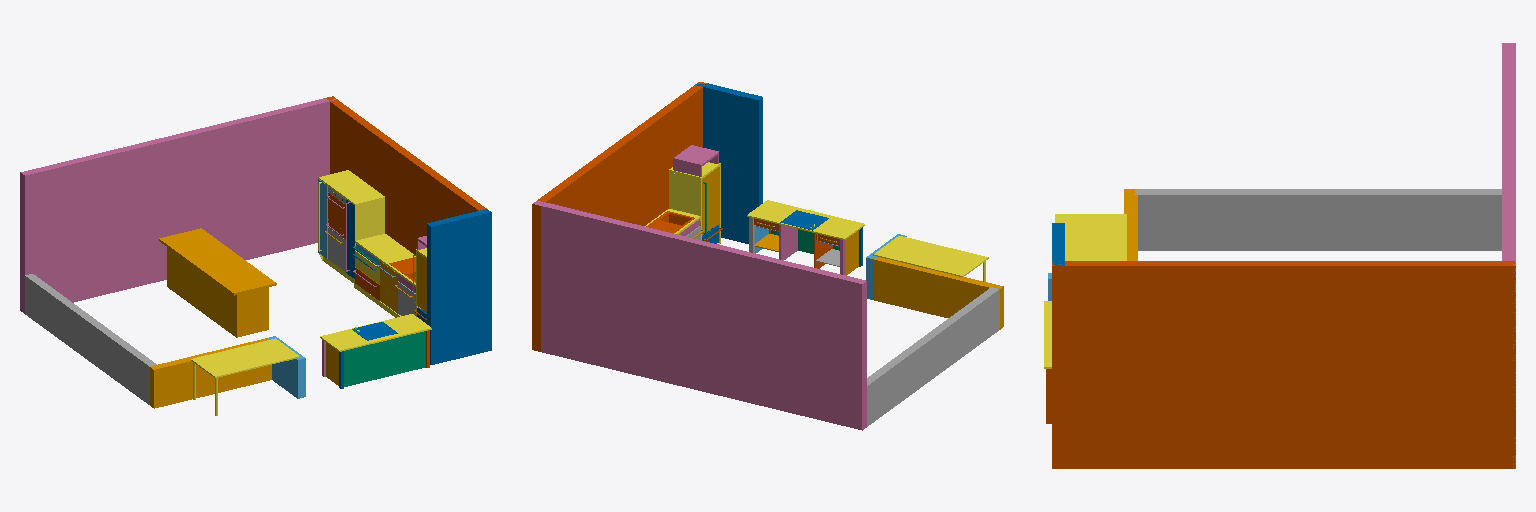
--- What the picture shows (computed from the rendered views, not written in the file) ---
Views: 3 orthographic renders of the robot side by side, from view 1: azimuth 30°, elevation 25°; view 2: azimuth 150°, elevation 25°; view 3: azimuth 270°, elevation 25°.
Robot: iai_oven_area — 164 links, 163 joints (11 revolute, 18 prismatic, 134 fixed); root link world; default pose: every joint at zero.
Links seen in each view (by area): view 1: kitchen_wall_3, kitchen_wall_2, kitchen_wall_1, kitchen_island, kitchen_wall_4, kitchen_wall_5, iai_popcorn_table_front_panel, oven_area_area, table_area_main, iai_popcorn_table_surface, sink_area, kitchen_wall_6 (+5 smaller); view 2: kitchen_wall_3, kitchen_wall_2, kitchen_wall_1, kitchen_wall_4, kitchen_wall_5, table_area_main, iai_popcorn_table_surface, fridge_area, iai_fridge_main, iai_fridge_door, sink_area_sink, iai_popcorn_table_right_wall (+1 smaller); view 3: kitchen_wall_2, kitchen_wall_4, kitchen_wall_3, table_area_main, kitchen_wall_5, kitchen_wall_1, iai_popcorn_table_surface.
Boxes of the visible links, bbox=[...] form: kitchen_wall_3: bbox=[20, 98, 337, 313]; kitchen_wall_2: bbox=[326, 96, 486, 254]; kitchen_wall_1: bbox=[427, 209, 491, 364]; kitchen_island: bbox=[159, 228, 276, 337]; kitchen_wall_4: bbox=[25, 274, 156, 404]; kitchen_wall_5: bbox=[150, 338, 271, 408]; iai_popcorn_table_front_panel: bbox=[344, 331, 425, 386]; oven_area_area: bbox=[318, 170, 384, 282]; table_area_main: bbox=[191, 338, 299, 415]; iai_popcorn_table_surface: bbox=[320, 314, 431, 351]; sink_area: bbox=[354, 234, 420, 317]; kitchen_wall_6: bbox=[268, 336, 305, 398]; kitchen_wall_3: bbox=[533, 200, 866, 430]; kitchen_wall_2: bbox=[532, 82, 707, 351]; kitchen_wall_1: bbox=[696, 83, 762, 243]; kitchen_wall_4: bbox=[867, 287, 999, 426]; kitchen_wall_5: bbox=[872, 257, 1003, 329]; table_area_main: bbox=[873, 236, 988, 281]; iai_popcorn_table_surface: bbox=[747, 200, 864, 239]; fridge_area: bbox=[669, 162, 720, 244]; iai_fridge_main: bbox=[673, 145, 718, 176]; iai_fridge_door: bbox=[702, 167, 719, 235]; sink_area_sink: bbox=[646, 211, 694, 233]; iai_popcorn_table_right_wall: bbox=[779, 225, 797, 259]; kitchen_wall_2: bbox=[1052, 261, 1515, 468]; kitchen_wall_4: bbox=[1135, 189, 1501, 250]; kitchen_wall_3: bbox=[1502, 43, 1515, 468]; table_area_main: bbox=[1055, 214, 1126, 260]; kitchen_wall_5: bbox=[1124, 189, 1137, 260]; kitchen_wall_1: bbox=[1052, 223, 1064, 265]; iai_popcorn_table_surface: bbox=[1044, 301, 1051, 368].
Size in the robot's own frame: 5.9 by 5.26 by 2.5 metres.
Meshes: 28 distinct files referenced, 57 mesh visuals loaded (1 binary STL, 27 OBJ).

robot.urdf — iai_oven_area:
<?xml version="1.0" ?>
<!-- =================================================================================== -->
<!-- |    This document was autogenerated by xacro from iai_kitchen_popcorn_python.urdf.xacro | -->
<!-- |    EDITING THIS FILE BY HAND IS NOT RECOMMENDED                                 | -->
<!-- =================================================================================== -->
<robot name="iai_oven_area">
  <!--- FIXME THIS should NOT be here -->
  <!--
      <link name="map">
      
      <sphere_inertia radius="0" mass="0"/>
      </link>
      <iai_drawer_60_14 name="drawer_1" parent="map">
      <origin rpy="0 0 0" xyz="0 0 1"/>
      </iai_drawer_60_14>
      
      <iai_drawer_80_14 name="drawer_2" parent="map">
      <origin rpy="0 0 0" xyz="0 0 2"/>
      </iai_drawer_80_14>
      
      <iai_drawer_60_29 name="drawer_3" parent="map">
      <origin rpy="0 0 0" xyz="0 0 3"/>
      </iai_drawer_60_29>
      
      <iai_drawer_80_29 name="drawer_4" parent="map">
      <origin rpy="0 0 0" xyz="0 0 4"/>
      </iai_drawer_80_29>
      
      <iai_drawer_100_29 name="drawer_5" parent="map">
      <origin rpy="0 0 0" xyz="0 0 5"/>
      </iai_drawer_100_29>
  -->
  <!--- FIXME THIS should NOT be here -->
  <!--
  <link name="oven_footprint">
    
    <sphere_inertia radius="0" mass="0"/>
  </link>
  <iai_oven name="iai_oven" parent="oven_footprint"/>
  -->
  <!--- FIXME THIS should NOT be here -->
  <!--
      <link name="map">
      
      <sphere_inertia radius="0" mass="0"/>
      </link>
      <iai_drawer_60_14 name="drawer_1" parent="map">
      <origin rpy="0 0 0" xyz="0 0 1"/>
      </iai_drawer_60_14>
      
      <iai_drawer_80_14 name="drawer_2" parent="map">
      <origin rpy="0 0 0" xyz="0 0 2"/>
      </iai_drawer_80_14>
      
      <iai_drawer_60_29 name="drawer_3" parent="map">
      <origin rpy="0 0 0" xyz="0 0 3"/>
      </iai_drawer_60_29>
      
      <iai_drawer_80_29 name="drawer_4" parent="map">
      <origin rpy="0 0 0" xyz="0 0 4"/>
      </iai_drawer_80_29>
      
      <iai_drawer_100_29 name="drawer_5" parent="map">
      <origin rpy="0 0 0" xyz="0 0 5"/>
      </iai_drawer_100_29>
  -->
  <!--- FIXME THIS should NOT be here -->
  <!--
      <link name="map">
      
      <sphere_inertia radius="0" mass="0"/>
      </link>
      <iai_drawer_60_14 name="drawer_1" parent="map">
      <origin rpy="0 0 0" xyz="0 0 1"/>
      </iai_drawer_60_14>
      
      <iai_drawer_80_14 name="drawer_2" parent="map">
      <origin rpy="0 0 0" xyz="0 0 2"/>
      </iai_drawer_80_14>
      
      <iai_drawer_60_29 name="drawer_3" parent="map">
      <origin rpy="0 0 0" xyz="0 0 3"/>
      </iai_drawer_60_29>
      
      <iai_drawer_80_29 name="drawer_4" parent="map">
      <origin rpy="0 0 0" xyz="0 0 4"/>
      </iai_drawer_80_29>
      
      <iai_drawer_100_29 name="drawer_5" parent="map">
      <origin rpy="0 0 0" xyz="0 0 5"/>
      </iai_drawer_100_29>
  -->
  <!--- FIXME THIS should NOT be here -->
  <!--
      <link name="map">
      
      <sphere_inertia radius="0" mass="0"/>
      </link>
      <iai_drawer_60_14 name="drawer_1" parent="map">
      <origin rpy="0 0 0" xyz="0 0 1"/>
      </iai_drawer_60_14>
      
      <iai_drawer_80_14 name="drawer_2" parent="map">
      <origin rpy="0 0 0" xyz="0 0 2"/>
      </iai_drawer_80_14>
      
      <iai_drawer_60_29 name="drawer_3" parent="map">
      <origin rpy="0 0 0" xyz="0 0 3"/>
      </iai_drawer_60_29>
      
      <iai_drawer_80_29 name="drawer_4" parent="map">
      <origin rpy="0 0 0" xyz="0 0 4"/>
      </iai_drawer_80_29>
      
      <iai_drawer_100_29 name="drawer_5" parent="map">
      <origin rpy="0 0 0" xyz="0 0 5"/>
      </iai_drawer_100_29>
  -->
  <link name="room_link">
    <sphere_inertia mass="0" radius="0"/>
  </link>
  <link name="world"/>
  <joint name="world_room_joint" type="fixed">
    <origin rpy="0 0 0" xyz="0.0 0.03 0 "/>
    <parent link="world"/>
    <child link="room_link"/>
  </joint>
  <link name="sink_area_footprint">
    <sphere_inertia mass="0" radius="0"/>
  </link>
  <link name="sink_area">
    <sphere_inertia mass="0" radius="0"/>
    <visual>
      <origin rpy="0 0 0" xyz="0 0 0"/>
      <geometry>
        <mesh filename="package://iai_kitchen/meshes/racks/SinkArea.obj"/>
      </geometry>
    </visual>
    <collision>
      <origin rpy="0 0 0" xyz="0 0 0"/>
      <geometry>
        <mesh filename="package://iai_kitchen/meshes/racks/SinkArea.obj"/>
      </geometry>
    </collision>
  </link>
  <joint name="sink_area_footprint_joint" type="fixed">
    <origin rpy="0 0 3.141592653589793" xyz="1.855 1.3 0"/>
    <child link="sink_area_footprint"/>
    <parent link="room_link"/>
  </joint>
  <joint name="sink_area_main_joint" type="fixed">
    <origin rpy="0 0 0" xyz="0.29 1.03 0.41"/>
    <parent link="sink_area_footprint"/>
    <child link="sink_area"/>
  </joint>
  <link name="sink_area_surface">
    <sphere_inertia mass="0" radius="0"/>
    <collision>
      <origin rpy="0 0 0" xyz="0 -0.225 0"/>
      <geometry>
        <box size="0.575 1.6 0.02"/>
      </geometry>
    </collision>
  </link>
  <joint name="sink_area_surface_joint" type="fixed">
    <origin rpy="0 0 0" xyz="0.0 0. 0.43"/>
    <parent link="sink_area"/>
    <child link="sink_area_surface"/>
  </joint>
  <link name="sink_area_sink">
    <sphere_inertia mass="0" radius="0"/>
    <visual>
      <origin rpy="0 0 0" xyz="0 0 0"/>
      <geometry>
        <mesh filename="package://iai_kitchen/meshes/misc/Sink.obj"/>
      </geometry>
    </visual>
    <collision>
      <origin rpy="0 0 0" xyz="0 0 0"/>
      <geometry>
        <mesh filename="package://iai_kitchen/meshes/misc/Sink.obj"/>
      </geometry>
    </collision>
  </link>
  <joint name="sink_area_sink_joint" type="fixed">
    <origin rpy="0 0 0" xyz="0.005 0.47 0.4414"/>
    <parent link="sink_area"/>
    <child link="sink_area_sink"/>
  </joint>
  <link name="sink_area_right_panel">
    <sphere_inertia mass="0" radius="0"/>
    <visual>
      <origin rpy="0 0 0" xyz="0 0 0"/>
      <geometry>
        <mesh filename="package://iai_kitchen/meshes/drawers/Panel_60.obj"/>
      </geometry>
    </visual>
    <collision>
      <origin rpy="0 0 0" xyz="0 0 0"/>
      <geometry>
        <mesh filename="package://iai_kitchen/meshes/drawers/Panel_60.obj"/>
      </geometry>
    </collision>
  </link>
  <joint name="sink_area_right_panel_joint" type="fixed">
    <origin rpy="0 0 0" xyz="0.28 0.7 0.355 "/>
    <parent link="sink_area"/>
    <child link="sink_area_right_panel"/>
  </joint>
  <link name="sink_area_trash_drawer_main">
    <sphere_inertia mass="0" radius="0"/>
    <visual>
      <origin rpy="0 0 0" xyz="0 0 0"/>
      <geometry>
        <mesh filename="package://iai_kitchen/meshes/drawers/Drawer_60_58.obj"/>
      </geometry>
    </visual>
    <collision>
      <origin rpy="0 0 0" xyz="0 0 0"/>
      <geometry>
        <mesh filename="package://iai_kitchen/meshes/drawers/Drawer_60_58.obj"/>
      </geometry>
    </collision>
  </link>
  <link name="sink_area_trash_drawer_handle">
    <sphere_inertia mass="0" radius="0"/>
    <visual>
      <origin rpy="0 0 0" xyz="0 0 0"/>
      <geometry>
        <mesh filename="package://iai_kitchen/meshes/handles/Handle60.obj"/>
      </geometry>
    </visual>
    <collision>
      <origin rpy="0 0 0" xyz="0 0 0"/>
      <geometry>
        <mesh filename="package://iai_kitchen/meshes/handles/Handle60.obj"/>
      </geometry>
    </collision>
  </link>
  <joint name="sink_area_trash_drawer_main_joint" type="prismatic">
    <origin rpy="0 0 0" xyz="0.01 0.7 -0.015 "/>
    <parent link="sink_area"/>
    <child link="sink_area_trash_drawer_main"/>
    <axis xyz="1. 0. 0.0"/>
    <limit effort="300" lower="0" upper="0.48" velocity="10"/>
    <!--
          <limit effort="300" lower="0" upper="0" velocity="10"/>
      -->
  </joint>
  <joint name="sink_area_trash_drawer_handle_joint" type="fixed">
    <origin rpy="0 0 0" xyz="0.37 0 0.25"/>
    <parent link="sink_area_trash_drawer_main"/>
    <child link="sink_area_trash_drawer_handle"/>
    <axis xyz="0 0 1"/>
    <limit effort="300" lower="0" upper="1.5707963267948966" velocity="10"/>
  </joint>
  <link name="sink_area_left_upper_drawer_main">
    <sphere_inertia mass="0" radius="0"/>
    <visual>
      <origin rpy="0 0 0" xyz="0 0 0"/>
      <geometry>
        <mesh filename="package://iai_kitchen/meshes/drawers/Drawer_80_14.obj"/>
      </geometry>
    </visual>
    <collision>
      <origin rpy="0 0 0" xyz="0 0 0"/>
      <geometry>
        <mesh filename="package://iai_kitchen/meshes/drawers/Drawer_80_14.obj"/>
      </geometry>
    </collision>
  </link>
  <link name="sink_area_left_upper_drawer_handle">
    <sphere_inertia mass="0" radius="0"/>
    <visual>
      <origin rpy="0 0 0" xyz="0 0 0"/>
      <geometry>
        <mesh filename="package://iai_kitchen/meshes/handles/Handle80.obj"/>
      </geometry>
    </visual>
    <collision>
      <origin rpy="0 0 0" xyz="0 0 0"/>
      <geometry>
        <mesh filename="package://iai_kitchen/meshes/handles/Handle80.obj"/>
      </geometry>
    </collision>
  </link>
  <joint name="sink_area_left_upper_drawer_main_joint" type="prismatic">
    <origin rpy="0 0 0" xyz="0.01 -0.6 0.345 "/>
    <parent link="sink_area"/>
    <child link="sink_area_left_upper_drawer_main"/>
    <axis xyz="1. 0. 0.0"/>
    <limit effort="300" lower="0" upper="0.48" velocity="10"/>
    <!--
          <limit effort="300" lower="0" upper="0" velocity="10"/>
      -->
  </joint>
  <joint name="sink_area_left_upper_drawer_handle_joint" type="fixed">
    <origin rpy="0 0 0" xyz="0.3525 0 0.0175"/>
    <parent link="sink_area_left_upper_drawer_main"/>
    <child link="sink_area_left_upper_drawer_handle"/>
    <axis xyz="0 0 1"/>
    <limit effort="300" lower="0" upper="1.5707963267948966" velocity="10"/>
  </joint>
  <link name="sink_area_left_middle_drawer_main">
    <sphere_inertia mass="0" radius="0"/>
    <visual>
      <origin rpy="0 0 0" xyz="0 0 0"/>
      <geometry>
        <mesh filename="package://iai_kitchen/meshes/drawers/Drawer_80_29.obj"/>
      </geometry>
    </visual>
    <collision>
      <origin rpy="0 0 0" xyz="0 0 0"/>
      <geometry>
        <mesh filename="package://iai_kitchen/meshes/drawers/Drawer_80_29.obj"/>
      </geometry>
    </collision>
  </link>
  <link name="sink_area_left_middle_drawer_handle">
    <sphere_inertia mass="0" radius="0"/>
    <visual>
      <origin rpy="0 0 0" xyz="0 0 0"/>
      <geometry>
        <mesh filename="package://iai_kitchen/meshes/handles/Handle80.obj"/>
      </geometry>
    </visual>
    <collision>
      <origin rpy="0 0 0" xyz="0 0 0"/>
      <geometry>
        <mesh filename="package://iai_kitchen/meshes/handles/Handle80.obj"/>
      </geometry>
    </collision>
  </link>
  <joint name="sink_area_left_middle_drawer_main_joint" type="prismatic">
    <origin rpy="0 0 0" xyz="0.01 -0.6 0.12 "/>
    <parent link="sink_area"/>
    <child link="sink_area_left_middle_drawer_main"/>
    <axis xyz="1. 0. 0.0"/>
    <limit effort="300" lower="0" upper="0.48" velocity="10"/>
    <!--
          <limit effort="300" lower="0" upper="0" velocity="10"/>
      -->
  </joint>
  <joint name="sink_area_left_middle_drawer_handle_joint" type="fixed">
    <origin rpy="0 0 0" xyz="0.3525 0 0.11"/>
    <parent link="sink_area_left_middle_drawer_main"/>
    <child link="sink_area_left_middle_drawer_handle"/>
    <axis xyz="0 0 1"/>
    <limit effort="300" lower="0" upper="1.5707963267948966" velocity="10"/>
  </joint>
  <link name="sink_area_left_bottom_drawer_main">
    <sphere_inertia mass="0" radius="0"/>
    <visual>
      <origin rpy="0 0 0" xyz="0 0 0"/>
      <geometry>
        <mesh filename="package://iai_kitchen/meshes/drawers/Drawer_80_29.obj"/>
      </geometry>
    </visual>
    <collision>
      <origin rpy="0 0 0" xyz="0 0 0"/>
      <geometry>
        <mesh filename="package://iai_kitchen/meshes/drawers/Drawer_80_29.obj"/>
      </geometry>
    </collision>
  </link>
  <link name="sink_area_left_bottom_drawer_handle">
    <sphere_inertia mass="0" radius="0"/>
    <visual>
      <origin rpy="0 0 0" xyz="0 0 0"/>
      <geometry>
        <mesh filename="package://iai_kitchen/meshes/handles/Handle80.obj"/>
      </geometry>
    </visual>
    <collision>
      <origin rpy="0 0 0" xyz="0 0 0"/>
      <geometry>
        <mesh filename="package://iai_kitchen/meshes/handles/Handle80.obj"/>
      </geometry>
    </collision>
  </link>
  <joint name="sink_area_left_bottom_drawer_main_joint" type="prismatic">
    <origin rpy="0 0 0" xyz="0.01 -0.6 -0.18"/>
    <parent link="sink_area"/>
    <child link="sink_area_left_bottom_drawer_main"/>
    <axis xyz="1. 0. 0.0"/>
    <limit effort="300" lower="0" upper="0.48" velocity="10"/>
    <!--
          <limit effort="300" lower="0" upper="0" velocity="10"/>
      -->
  </joint>
  <joint name="sink_area_left_bottom_drawer_handle_joint" type="fixed">
    <origin rpy="0 0 0" xyz="0.3525 0 0.11"/>
    <parent link="sink_area_left_bottom_drawer_main"/>
    <child link="sink_area_left_bottom_drawer_handle"/>
    <axis xyz="0 0 1"/>
    <limit effort="300" lower="0" upper="1.5707963267948966" velocity="10"/>
  </joint>
  <link name="sink_area_dish_washer_main">
    <sphere_inertia mass="0" radius="0"/>
    <visual>
      <origin rpy="0 0 0" xyz="0 0 0"/>
      <geometry>
        <mesh filename="package://iai_kitchen/meshes/misc/DishWasher.obj"/>
      </geometry>
    </visual>
    <collision>
      <origin rpy="0 0 0" xyz="0 0 0"/>
      <geometry>
        <mesh filename="package://iai_kitchen/meshes/misc/DishWasher.obj"/>
      </geometry>
    </collision>
  </link>
  <link name="sink_area_dish_washer_door">
    <sphere_inertia mass="0" radius="0"/>
    <visual>
      <origin rpy="1.5707963267948966 0 0" xyz="0 0.055 0"/>
      <geometry>
        <mesh filename="package://iai_kitchen/meshes/misc/DishWasherDoor.obj"/>
      </geometry>
    </visual>
    <collision>
      <origin rpy="1.5707963267948966 0 0" xyz="0 0.055 0"/>
      <geometry>
        <mesh filename="package://iai_kitchen/meshes/misc/DishWasherDoor.obj"/>
      </geometry>
    </collision>
  </link>
  <link name="sink_area_dish_washer_door_handle">
    <sphere_inertia mass="0" radius="0"/>
    <visual>
      <origin rpy="0 0 0" xyz="0 0 0"/>
      <geometry>
        <mesh filename="package://iai_kitchen/meshes/handles/Handle60.obj"/>
      </geometry>
    </visual>
    <collision>
      <origin rpy="0 0 0" xyz="0 0 0"/>
      <geometry>
        <mesh filename="package://iai_kitchen/meshes/handles/Handle60.obj"/>
      </geometry>
    </collision>
  </link>
  <!--
    <xacro:if value="simulated"/>
    -->
  <joint name="sink_area_dish_washer_main_joint" type="fixed">
    <origin rpy="0 0 0" xyz="0.01 0.1 0.06"/>
    <parent link="sink_area"/>
    <child link="sink_area_dish_washer_main"/>
  </joint>
  <!--
    <xacro:if value="${simulated}">
    <joint name="${name}_door_joint" type="revolute">
      <origin xyz="0.27 0. -0.325" rpy="${-0.5*pi} 0 0" />
      <parent link="${name}_main"/>
      <child link="${name}_door"/>
      <axis xyz="0 0 1"/>
       FIXME make closed position stable instead of forbidding opening...
      <limit lower="0" upper="0" effort="300" velocity="10"/>
    </joint>

    </xacro:if>
    -->
  <!--
    <xacro:unless value="${simulated}">
    -->
  <joint name="sink_area_dish_washer_door_joint" type="revolute">
    <origin rpy="-1.5707963267948966 0 0" xyz="0.27 0. -0.285"/>
    <parent link="sink_area_dish_washer_main"/>
    <child link="sink_area_dish_washer_door"/>
    <axis xyz="0 0 1"/>
    <!--
      <limit lower="0" upper="${0.5*pi}" effort="300" velocity="10"/>
      -->
    <limit effort="300" lower="0" upper="1.5707963267948966" velocity="10"/>
  </joint>
  <!--
    </xacro:unless>
  -->
  <joint name="sink_area_dish_washer_door_handle_joint" type="fixed">
    <origin rpy="-1.5707963267948966 0 0" xyz="0.085 -0.575 0.0"/>
    <parent link="sink_area_dish_washer_door"/>
    <child link="sink_area_dish_washer_door_handle"/>
  </joint>
  <joint name="sink_area_dish_washer_tray_main" type="prismatic">
    <origin xyz="-0.08 0 0.15"/>
    <parent link="sink_area_dish_washer_main"/>
    <child link="sink_area_dish_washer_tray_bottom"/>
    <axis xyz="1 0 0"/>
    <limit effort="300" lower="0" upper="0.48" velocity="10"/>
  </joint>
  <link name="sink_area_dish_washer_tray_bottom">
    <visual>
      <geometry>
        <box size="0.32 0.5 0.05"/>
      </geometry>
    </visual>
    <collision>
      <geometry>
        <box size="0.32 0.5 0.05"/>
      </geometry>
    </collision>
  </link>
  <link name="sink_area_dish_washer_tray_left_side">
    <visual>
      <geometry>
        <box size="0.32 0.005 0.17"/>
      </geometry>
    </visual>
    <collision>
      <geometry>
        <box size="0.32 0.005 0.17"/>
      </geometry>
    </collision>
  </link>
  <link name="sink_area_dish_washer_tray_right_side">
    <visual>
      <geometry>
        <box size="0.32 0.005 0.17"/>
      </geometry>
    </visual>
    <collision>
      <geometry>
        <box size="0.32 0.005 0.17"/>
      </geometry>
    </collision>
  </link>
  <link name="sink_area_dish_washer_tray_back_side">
    <visual>
      <geometry>
        <box size="0.005 0.5 0.17"/>
      </geometry>
    </visual>
    <collision>
      <geometry>
        <box size="0.005 0.5 0.17"/>
      </geometry>
    </collision>
  </link>
  <link name="sink_area_dish_washer_tray_front_side">
    <visual>
      <geometry>
        <box size="0.005 0.5 0.17"/>
      </geometry>
    </visual>
    <collision>
      <geometry>
        <box size="0.005 0.5 0.17"/>
      </geometry>
    </collision>
  </link>
  <joint name="sink_area_dish_washer_tray_bottom_left" type="fixed">
    <origin xyz="-0.0 -0.25 0.075"/>
    <child link="sink_area_dish_washer_tray_left_side"/>
    <parent link="sink_area_dish_washer_tray_bottom"/>
  </joint>
  <joint name="sink_area_dish_washer_tray_bottom_right" type="fixed">
    <origin xyz="-0.0 0.25 0.075"/>
    <child link="sink_area_dish_washer_tray_right_side"/>
    <parent link="sink_area_dish_washer_tray_bottom"/>
  </joint>
  <joint name="sink_area_dish_washer_tray_bottom_back" type="fixed">
    <origin xyz="-0.16 0 0.075"/>
    <child link="sink_area_dish_washer_tray_back_side"/>
    <parent link="sink_area_dish_washer_tray_bottom"/>
  </joint>
  <joint name="sink_area_dish_washer_tray_bottom_front" type="fixed">
    <origin xyz="0.16 0 0.075"/>
    <child link="sink_area_dish_washer_tray_front_side"/>
    <parent link="sink_area_dish_washer_tray_bottom"/>
  </joint>
  <joint name="sink_area_dish_washer_tray_handle_joint" type="fixed">
    <origin xyz="0.06 -0.1 -0.02"/>
    <child link="sink_area_dish_washer_tray_handle_front_side"/>
    <parent link="sink_area_dish_washer_tray_front_side"/>
  </joint>
  <link name="sink_area_dish_washer_tray_handle_left_side">
    <visual>
      <geometry>
        <box size="0.03 0.01 0.01"/>
      </geometry>
    </visual>
    <collision>
      <geometry>
        <box size="0.03 0.01 0.01"/>
      </geometry>
    </collision>
  </link>
  <link name="sink_area_dish_washer_tray_handle_right_side">
    <visual>
      <geometry>
        <box size="0.03 0.01 0.01"/>
      </geometry>
    </visual>
    <collision>
      <geometry>
        <box size="0.03 0.01 0.01"/>
      </geometry>
    </collision>
  </link>
  <link name="sink_area_dish_washer_tray_handle_front_side">
    <visual>
      <geometry>
        <box size="0.01 0.2 0.01"/>
      </geometry>
    </visual>
    <collision>
      <geometry>
        <box size="0.01 0.2 0.01"/>
      </geometry>
    </collision>
  </link>
  <joint name="sink_area_dish_washer_tray_handle_front_left_joint" type="fixed">
    <origin xyz="-0.01 -0.1 0"/>
    <child link="sink_area_dish_washer_tray_handle_left_side"/>
    <parent link="sink_area_dish_washer_tray_handle_front_side"/>
  </joint>
  <joint name="sink_area_dish_washer_tray_handle_front_right_joint" type="fixed">
    <origin xyz="-0.01 0.1 0"/>
    <child link="sink_area_dish_washer_tray_handle_right_side"/>
    <parent link="sink_area_dish_washer_tray_handle_front_side"/>
  </joint>
  <link name="oven_area_area_footprint">
    <sphere_inertia mass="0" radius="0"/>
  </link>
  <link name="oven_area_area">
    <sphere_inertia mass="0" radius="0"/>
    <visual>
      <origin rpy="0 0 0" xyz="0 0 0"/>
      <geometry>
        <mesh filename="package://iai_kitchen/meshes/racks/OvenArea.obj"/>
      </geometry>
    </visual>
    <collision>
      <origin rpy="0 0 0" xyz="0 0 0"/>
      <geometry>
        <mesh filename="package://iai_kitchen/meshes/racks/OvenArea.obj"/>
      </geometry>
    </collision>
  </link>
  <joint name="oven_area_footprint_joint" type="fixed">
    <origin rpy="0 0 3.141592653589793" xyz="1.855 2.47 0"/>
    <child link="oven_area_area_footprint"/>
    <parent link="room_link"/>
  </joint>
  <joint name="oven_area_main_joint" type="fixed">
    <origin rpy="0 0 0" xyz="0.29 0.6 0.755"/>
    <parent link="oven_area_area_footprint"/>
    <child link="oven_area_area"/>
  </joint>
  <!-- LINKS -->
  <link name="oven_area_oven_main">
    <sphere_inertia mass="0" radius="0"/>
    <visual>
      <origin rpy="0 0 0" xyz="0 0 0"/>
      <geometry>
        <mesh filename="package://iai_kitchen/meshes/oven/OvenMain.obj"/>
      </geometry>
    </visual>
    <collision>
      <origin rpy="0 0 0" xyz="0 0 0"/>
      <geometry>
        <mesh filename="package://iai_kitchen/meshes/oven/OvenMain.obj"/>
      </geometry>
    </collision>
  </link>
  <link name="oven_area_oven_door">
    <sphere_inertia mass="0" radius="0"/>
    <visual>
      <origin rpy="1.5707963267948966 0 0" xyz="0 0 0"/>
      <geometry>
        <mesh filename="package://iai_kitchen/meshes/oven/OvenDoor.obj"/>
      </geometry>
    </visual>
    <collision>
      <origin rpy="1.5707963267948966 0 0" xyz="0 0 0"/>
      <geometry>
        <mesh filename="package://iai_kitchen/meshes/oven/OvenDoor.obj"/>
      </geometry>
    </collision>
  </link>
  <link name="oven_area_oven_door_handle">
    <sphere_inertia mass="0" radius="0"/>
    <visual>
      <origin rpy="0 0 0" xyz="0 0 0"/>
      <geometry>
        <mesh filename="package://iai_kitchen/meshes/handles/Handle60.obj"/>
      </geometry>
    </visual>
    <collision>
      <origin rpy="0 0 0" xyz="0 0 0"/>
      <geometry>
        <mesh filename="package://iai_kitchen/meshes/handles/Handle60.obj"/>
      </geometry>
    </collision>
  </link>
  <link name="oven_area_oven_panel">
    <sphere_inertia mass="0" radius="0"/>
    <visual>
      <origin rpy="0 0 0" xyz="0 0 0"/>
      <geometry>
        <mesh filename="package://iai_kitchen/meshes/oven/OvenPanel.obj"/>
      </geometry>
    </visual>
    <collision>
      <origin rpy="0 0 0" xyz="0 0 0"/>
      <geometry>
        <mesh filename="package://iai_kitchen/meshes/oven/OvenPanel.obj"/>
      </geometry>
    </collision>
  </link>
  <!-- JOINTS -->
  <joint name="oven_area_oven_main_joint" type="fixed">
    <origin rpy="0 0 0" xyz="0.0 0.0 0.415"/>
    <parent link="oven_area_area"/>
    <child link="oven_area_oven_main"/>
  </joint>
  <joint name="oven_area_oven_door_joint" type="revolute">
    <origin rpy="-1.5707963267948966 0 0" xyz="0.2737 0. -0.2614"/>
    <parent link="oven_area_oven_main"/>
    <child link="oven_area_oven_door"/>
    <axis xyz="0 0 1"/>
    <!--
        <limit lower="0" upper="${0.5*pi}" effort="300" velocity="10"/>
        -->
    <!-- FIXME make the closed position stable -->
    <limit effort="0.03" lower="0" upper="1.5707963267948966" velocity="10"/>
    <dynamics damping="100.1"/>
  </joint>
  <gazebo reference="oven_area_oven_door_joint">
    <kp>1000000000</kp>
    <kd>1000000000</kd>
  </gazebo>
  <joint name="oven_area_oven_door_handle_joint" type="fixed">
    <origin rpy="-1.5707963267948966 0 0" xyz="0.05876 -0.39803 0."/>
    <parent link="oven_area_oven_door"/>
    <child link="oven_area_oven_door_handle"/>
    <axis xyz="0 0 1"/>
    <limit effort="300" lower="0" upper="1.5707963267948966" velocity="10"/>
  </joint>
  <joint name="oven_area_oven_panel_joint" type="fixed">
    <origin rpy="0 0 0" xyz="0.27 0 0.2449"/>
    <parent link="oven_area_oven_main"/>
    <child link="oven_area_oven_panel"/>
  </joint>
  <!--KNOBS -->
  <link name="oven_area_oven_knob_stove_2">
    <sphere_inertia mass="0" radius="0"/>
    <visual>
      <origin rpy="0 1.5707963267948966 0" xyz="0 0 0"/>
      <geometry>
        <mesh filename="package://iai_kitchen/meshes/oven/Knob.obj"/>
      </geometry>
    </visual>
    <collision>
      <origin rpy="0 1.5707963267948966 0" xyz="0 0 0"/>
      <geometry>
        <mesh filename="package://iai_kitchen/meshes/oven/Knob.obj"/>
      </geometry>
    </collision>
  </link>
  <joint name="oven_area_oven_knob_stove_2_joint" type="revolute">
    <origin rpy="0 -1.5707963267948966 0" xyz="0 -0.14 0"/>
    <parent link="oven_area_oven_panel"/>
    <child link="oven_area_oven_knob_stove_2"/>
    <axis xyz="0 0 1"/>
    <limit effort="300" lower="0" upper="3.141592653589793" velocity="10"/>
  </joint>
  <link name="oven_area_oven_knob_stove_1">
    <sphere_inertia mass="0" radius="0"/>
    <visual>
      <origin rpy="0 1.5707963267948966 0" xyz="0 0 0"/>
      <geometry>
        <mesh filename="package://iai_kitchen/meshes/oven/Knob.obj"/>
      </geometry>
    </visual>
    <collision>
      <origin rpy="0 1.5707963267948966 0" xyz="0 0 0"/>
      <geometry>
        <mesh filename="package://iai_kitchen/meshes/oven/Knob.obj"/>
      </geometry>
    </collision>
  </link>
  <joint name="oven_area_oven_knob_stove_1_joint" type="revolute">
    <origin rpy="0 -1.5707963267948966 0" xyz="0 -0.21 0"/>
    <parent link="oven_area_oven_panel"/>
    <child link="oven_area_oven_knob_stove_1"/>
    <axis xyz="0 0 1"/>
    <limit effort="300" lower="0" upper="3.141592653589793" velocity="10"/>
  </joint>
  <link name="oven_area_oven_knob_stove_3">
    <sphere_inertia mass="0" radius="0"/>
    <visual>
      <origin rpy="0 1.5707963267948966 0" xyz="0 0 0"/>
      <geometry>
        <mesh filename="package://iai_kitchen/meshes/oven/Knob.obj"/>
      </geometry>
    </visual>
    <collision>
      <origin rpy="0 1.5707963267948966 0" xyz="0 0 0"/>
      <geometry>
        <mesh filename="package://iai_kitchen/meshes/oven/Knob.obj"/>
      </geometry>
    </collision>
  </link>
  <joint name="oven_area_oven_knob_stove_3_joint" type="revolute">
    <origin rpy="0 -1.5707963267948966 0" xyz="0 -0.07 0"/>
    <parent link="oven_area_oven_panel"/>
    <child link="oven_area_oven_knob_stove_3"/>
    <axis xyz="0 0 1"/>
    <limit effort="300" lower="0" upper="3.141592653589793" velocity="10"/>
  </joint>
  <link name="oven_area_oven_knob_stove_4">
    <sphere_inertia mass="0" radius="0"/>
    <visual>
      <origin rpy="0 1.5707963267948966 0" xyz="0 0 0"/>
      <geometry>
        <mesh filename="package://iai_kitchen/meshes/oven/Knob.obj"/>
      </geometry>
    </visual>
    <collision>
      <origin rpy="0 1.5707963267948966 0" xyz="0 0 0"/>
      <geometry>
        <mesh filename="package://iai_kitchen/meshes/oven/Knob.obj"/>
      </geometry>
    </collision>
  </link>
  <joint name="oven_area_oven_knob_stove_4_joint" type="revolute">
    <origin rpy="0 -1.5707963267948966 0" xyz="0 -0.0 0"/>
    <parent link="oven_area_oven_panel"/>
    <child link="oven_area_oven_knob_stove_4"/>
    <axis xyz="0 0 1"/>
    <limit effort="300" lower="0" upper="3.141592653589793" velocity="10"/>
  </joint>
  <link name="oven_area_oven_knob_oven">
    <sphere_inertia mass="0" radius="0"/>
    <visual>
      <origin rpy="0 1.5707963267948966 0" xyz="0 0 0"/>
      <geometry>
        <mesh filename="package://iai_kitchen/meshes/oven/Knob.obj"/>
      </geometry>
    </visual>
    <collision>
      <origin rpy="0 1.5707963267948966 0" xyz="0 0 0"/>
      <geometry>
        <mesh filename="package://iai_kitchen/meshes/oven/Knob.obj"/>
      </geometry>
    </collision>
  </link>
  <joint name="oven_area_oven_knob_oven_joint" type="revolute">
    <origin rpy="0 -1.5707963267948966 0" xyz="0 0.16 0"/>
    <parent link="oven_area_oven_panel"/>
    <child link="oven_area_oven_knob_oven"/>
    <axis xyz="0 0 1"/>
    <limit effort="300" lower="0" upper="3.141592653589793" velocity="10"/>
  </joint>
  <link name="oven_area_area_middle_upper_drawer_main">
    <sphere_inertia mass="0" radius="0"/>
    <visual>
      <origin rpy="0 0 0" xyz="0 0 0"/>
      <geometry>
        <mesh filename="package://iai_kitchen/meshes/drawers/Drawer_60_14.obj"/>
      </geometry>
    </visual>
    <collision>
      <origin rpy="0 0 0" xyz="0 0 0"/>
      <geometry>
        <mesh filename="package://iai_kitchen/meshes/drawers/Drawer_60_14.obj"/>
      </geometry>
    </collision>
  </link>
  <link name="oven_area_area_middle_upper_drawer_handle">
    <sphere_inertia mass="0" radius="0"/>
    <visual>
      <origin rpy="0 0 0" xyz="0 0 0"/>
      <geometry>
        <mesh filename="package://iai_kitchen/meshes/handles/Handle60.obj"/>
      </geometry>
    </visual>
    <collision>
      <origin rpy="0 0 0" xyz="0 0 0"/>
      <geometry>
        <mesh filename="package://iai_kitchen/meshes/handles/Handle60.obj"/>
      </geometry>
    </collision>
  </link>
  <joint name="oven_area_area_middle_upper_drawer_main_joint" type="prismatic">
    <origin rpy="0 0 0" xyz="0.0 -0. 0.045 "/>
    <parent link="oven_area_area"/>
    <child link="oven_area_area_middle_upper_drawer_main"/>
    <axis xyz="1. 0. 0.0"/>
    <limit effort="300" lower="0" upper="0.48" velocity="10"/>
    <!--
          <limit effort="300" lower="0" upper="0" velocity="10"/>
      -->
  </joint>
  <joint name="oven_area_area_middle_upper_drawer_handle_joint" type="fixed">
    <origin rpy="0 0 0" xyz="0.3525 0 0.0175"/>
    <parent link="oven_area_area_middle_upper_drawer_main"/>
    <child link="oven_area_area_middle_upper_drawer_handle"/>
    <axis xyz="0 0 1"/>
    <limit effort="300" lower="0" upper="1.5707963267948966" velocity="10"/>
  </joint>
  <link name="oven_area_area_middle_lower_drawer_main">
    <sphere_inertia mass="0" radius="0"/>
    <visual>
      <origin rpy="0 0 0" xyz="0 0 0"/>
      <geometry>
        <mesh filename="package://iai_kitchen/meshes/drawers/Drawer_60_58.obj"/>
      </geometry>
    </visual>
    <collision>
      <origin rpy="0 0 0" xyz="0 0 0"/>
      <geometry>
        <mesh filename="package://iai_kitchen/meshes/drawers/Drawer_60_58.obj"/>
      </geometry>
    </collision>
  </link>
  <link name="oven_area_area_middle_lower_drawer_handle">
    <sphere_inertia mass="0" radius="0"/>
    <visual>
      <origin rpy="0 0 0" xyz="0 0 0"/>
      <geometry>
        <mesh filename="package://iai_kitchen/meshes/handles/Handle60.obj"/>
      </geometry>
    </visual>
    <collision>
      <origin rpy="0 0 0" xyz="0 0 0"/>
      <geometry>
        <mesh filename="package://iai_kitchen/meshes/handles/Handle60.obj"/>
      </geometry>
    </collision>
  </link>
  <joint name="oven_area_area_middle_lower_drawer_main_joint" type="prismatic">
    <origin rpy="0 0 0" xyz="0.0 -0. -0.315 "/>
    <parent link="oven_area_area"/>
    <child link="oven_area_area_middle_lower_drawer_main"/>
    <axis xyz="1. 0. 0.0"/>
    <limit effort="300" lower="0" upper="0.48" velocity="10"/>
    <!--
          <limit effort="300" lower="0" upper="0" velocity="10"/>
      -->
  </joint>
  <joint name="oven_area_area_middle_lower_drawer_handle_joint" type="fixed">
    <origin rpy="0 0 0" xyz="0.37 0 0.25"/>
    <parent link="oven_area_area_middle_lower_drawer_main"/>
    <child link="oven_area_area_middle_lower_drawer_handle"/>
    <axis xyz="0 0 1"/>
    <limit effort="300" lower="0" upper="1.5707963267948966" velocity="10"/>
  </joint>
  <joint name="oven_area_area_left_drawer_main_joint" type="prismatic">
    <origin rpy="0 0 0" xyz="0.29 -0.45 0.07 "/>
    <parent link="oven_area_area"/>
    <child link="oven_area_area_left_drawer_main"/>
    <axis xyz="1. 0. 0.0"/>
    <limit effort="300" lower="0" upper="0.48" velocity="10"/>
  </joint>
  <link name="oven_area_area_left_drawer_main">
    <sphere_inertia mass="0" radius="0"/>
    <visual>
      <origin rpy="0 0 0" xyz="0 0 0"/>
      <geometry>
        <box size="0.025 0.3 1.33"/>
      </geometry>
    </visual>
    <collision>
      <origin rpy="0 0 0" xyz="0 0 0"/>
      <geometry>
        <box size="0.025 0.3 1.33"/>
      </geometry>
    </collision>
  </link>
  <joint name="oven_area_area_left_drawer_main_padding_joint" type="fixed">
    <parent link="oven_area_area_left_drawer_main"/>
    <child link="oven_area_area_left_drawer_main_padding"/>
    <origin rpy="0 0 0" xyz="-0.03 0.0 0.0"/>
  </joint>
  <link name="oven_area_area_left_drawer_main_padding">
    <sphere_inertia mass="0" radius="0"/>
    <visual>
      <origin rpy="0 0 0" xyz="0 0 0"/>
      <geometry>
        <box size="0.06 0.3 1.33"/>
      </geometry>
    </visual>
    <collision>
      <origin rpy="0 0 0" xyz="0 0 0"/>
      <geometry>
        <box size="0.06 0.3 1.33"/>
      </geometry>
    </collision>
  </link>
  <joint name="oven_area_area_left_drawer_handle_joint" type="fixed">
    <origin rpy="-1.5707963267948966 0 0" xyz="0.08 0.0 0.05"/>
    <parent link="oven_area_area_left_drawer_main"/>
    <child link="oven_area_area_left_drawer_handle"/>
  </joint>
  <link name="oven_area_area_left_drawer_handle">
    <sphere_inertia mass="0" radius="0"/>
    <visual>
      <origin rpy="1.5707963267948966 0 0" xyz="0 0 0"/>
      <geometry>
        <mesh filename="package://iai_kitchen/meshes/handles/VHandle130.obj"/>
      </geometry>
    </visual>
    <collision>
      <origin rpy="1.5707963267948966 0 0" xyz="0 0 0"/>
      <geometry>
        <mesh filename="package://iai_kitchen/meshes/handles/VHandle130.obj"/>
      </geometry>
    </collision>
  </link>
  <link name="oven_area_area_left_drawer_board_0_link">
    <sphere_inertia mass="0" radius="0"/>
    <visual>
      <origin rpy="0 0 0" xyz="0 0 0"/>
      <geometry>
        <box size="0.49 0.25 0.036"/>
      </geometry>
    </visual>
    <collision>
      <origin rpy="0 0 0" xyz="0 0 0"/>
      <geometry>
        <box size="0.49 0.25 0.036"/>
      </geometry>
    </collision>
  </link>
  <joint name="oven_area_area_left_drawer_board_0_joint" type="fixed">
    <origin xyz="-0.25 0 -0.6"/>
    <parent link="oven_area_area_left_drawer_main"/>
    <child link="oven_area_area_left_drawer_board_0_link"/>
  </joint>
  <link name="oven_area_area_left_drawer_barrier_0_right_link">
    <sphere_inertia mass="0" radius="0"/>
    <visual>
      <origin rpy="0 0 0" xyz="0 0 0"/>
      <geometry>
        <box size="0.49 0.036 0.1"/>
      </geometry>
    </visual>
    <collision>
      <origin rpy="0 0 0" xyz="0 0 0"/>
      <geometry>
        <box size="0.49 0.036 0.1"/>
      </geometry>
    </collision>
  </link>
  <joint name="oven_area_area_left_drawer_barrier_0_right_joint" type="fixed">
    <origin xyz="-0.25 -0.107 -0.568"/>
    <parent link="oven_area_area_left_drawer_main"/>
    <child link="oven_area_area_left_drawer_barrier_0_right_link"/>
  </joint>
  <link name="oven_area_area_left_drawer_barrier_0_left_link">
    <sphere_inertia mass="0" radius="0"/>
    <visual>
      <origin rpy="0 0 0" xyz="0 0 0"/>
      <geometry>
        <box size="0.49 0.036 0.1"/>
      </geometry>
    </visual>
    <collision>
      <origin rpy="0 0 0" xyz="0 0 0"/>
      <geometry>
        <box size="0.49 0.036 0.1"/>
      </geometry>
    </collision>
  </link>
  <joint name="oven_area_area_left_drawer_barrier_0_left_joint" type="fixed">
    <origin xyz="-0.25 0.107 -0.568"/>
    <parent link="oven_area_area_left_drawer_main"/>
    <child link="oven_area_area_left_drawer_barrier_0_left_link"/>
  </joint>
  <link name="oven_area_area_left_drawer_barrier_0_back_link">
    <sphere_inertia mass="0" radius="0"/>
    <visual>
      <origin rpy="0 0 0" xyz="0 0 0"/>
      <geometry>
        <box size="0.036 0.25 0.1"/>
      </geometry>
    </visual>
    <collision>
      <origin rpy="0 0 0" xyz="0 0 0"/>
      <geometry>
        <box size="0.036 0.25 0.1"/>
      </geometry>
    </collision>
  </link>
  <joint name="oven_area_area_left_drawer_barrier_0_back_joint" type="fixed">
    <origin xyz="-0.477 0 -0.568"/>
    <parent link="oven_area_area_left_drawer_main"/>
    <child link="oven_area_area_left_drawer_barrier_0_back_link"/>
  </joint>
  <link name="oven_area_area_left_drawer_board_1_link">
    <sphere_inertia mass="0" radius="0"/>
    <visual>
      <origin rpy="0 0 0" xyz="0 0 0"/>
      <geometry>
        <box size="0.49 0.25 0.036"/>
      </geometry>
    </visual>
    <collision>
      <origin rpy="0 0 0" xyz="0 0 0"/>
      <geometry>
        <box size="0.49 0.25 0.036"/>
      </geometry>
    </collision>
  </link>
  <joint name="oven_area_area_left_drawer_board_1_joint" type="fixed">
    <origin xyz="-0.25 0 -0.28"/>
    <parent link="oven_area_area_left_drawer_main"/>
    <child link="oven_area_area_left_drawer_board_1_link"/>
  </joint>
  <link name="oven_area_area_left_drawer_barrier_1_right_link">
    <sphere_inertia mass="0" radius="0"/>
    <visual>
      <origin rpy="0 0 0" xyz="0 0 0"/>
      <geometry>
        <box size="0.49 0.036 0.1"/>
      </geometry>
    </visual>
    <collision>
      <origin rpy="0 0 0" xyz="0 0 0"/>
      <geometry>
        <box size="0.49 0.036 0.1"/>
      </geometry>
    </collision>
  </link>
  <joint name="oven_area_area_left_drawer_barrier_1_right_joint" type="fixed">
    <origin xyz="-0.25 -0.107 -0.24800000000000003"/>
    <parent link="oven_area_area_left_drawer_main"/>
    <child link="oven_area_area_left_drawer_barrier_1_right_link"/>
  </joint>
  <link name="oven_area_area_left_drawer_barrier_1_left_link">
    <sphere_inertia mass="0" radius="0"/>
    <visual>
      <origin rpy="0 0 0" xyz="0 0 0"/>
      <geometry>
        <box size="0.49 0.036 0.1"/>
      </geometry>
    </visual>
    <collision>
      <origin rpy="0 0 0" xyz="0 0 0"/>
      <geometry>
        <box size="0.49 0.036 0.1"/>
      </geometry>
    </collision>
  </link>
  <joint name="oven_area_area_left_drawer_barrier_1_left_joint" type="fixed">
    <origin xyz="-0.25 0.107 -0.24800000000000003"/>
    <parent link="oven_area_area_left_drawer_main"/>
    <child link="oven_area_area_left_drawer_barrier_1_left_link"/>
  </joint>
  <link name="oven_area_area_left_drawer_barrier_1_back_link">
    <sphere_inertia mass="0" radius="0"/>
    <visual>
      <origin rpy="0 0 0" xyz="0 0 0"/>
      <geometry>
        <box size="0.036 0.25 0.1"/>
      </geometry>
    </visual>
    <collision>
      <origin rpy="0 0 0" xyz="0 0 0"/>
      <geometry>
        <box size="0.036 0.25 0.1"/>
      </geometry>
    </collision>
  </link>
  <joint name="oven_area_area_left_drawer_barrier_1_back_joint" type="fixed">
    <origin xyz="-0.477 0 -0.24800000000000003"/>
    <parent link="oven_area_area_left_drawer_main"/>
    <child link="oven_area_area_left_drawer_barrier_1_back_link"/>
  </joint>
  <link name="oven_area_area_left_drawer_board_2_link">
    <sphere_inertia mass="0" radius="0"/>
    <visual>
      <origin rpy="0 0 0" xyz="0 0 0"/>
      <geometry>
        <box size="0.49 0.25 0.036"/>
      </geometry>
    </visual>
    <collision>
      <origin rpy="0 0 0" xyz="0 0 0"/>
      <geometry>
        <box size="0.49 0.25 0.036"/>
      </geometry>
    </collision>
  </link>
  <joint name="oven_area_area_left_drawer_board_2_joint" type="fixed">
    <origin xyz="-0.25 0 0.05"/>
    <parent link="oven_area_area_left_drawer_main"/>
    <child link="oven_area_area_left_drawer_board_2_link"/>
  </joint>
  <link name="oven_area_area_left_drawer_barrier_2_right_link">
    <sphere_inertia mass="0" radius="0"/>
    <visual>
      <origin rpy="0 0 0" xyz="0 0 0"/>
      <geometry>
        <box size="0.49 0.036 0.1"/>
      </geometry>
    </visual>
    <collision>
      <origin rpy="0 0 0" xyz="0 0 0"/>
      <geometry>
        <box size="0.49 0.036 0.1"/>
      </geometry>
    </collision>
  </link>
  <joint name="oven_area_area_left_drawer_barrier_2_right_joint" type="fixed">
    <origin xyz="-0.25 -0.107 0.082"/>
    <parent link="oven_area_area_left_drawer_main"/>
    <child link="oven_area_area_left_drawer_barrier_2_right_link"/>
  </joint>
  <link name="oven_area_area_left_drawer_barrier_2_left_link">
    <sphere_inertia mass="0" radius="0"/>
    <visual>
      <origin rpy="0 0 0" xyz="0 0 0"/>
      <geometry>
        <box size="0.49 0.036 0.1"/>
      </geometry>
    </visual>
    <collision>
      <origin rpy="0 0 0" xyz="0 0 0"/>
      <geometry>
        <box size="0.49 0.036 0.1"/>
      </geometry>
    </collision>
  </link>
  <joint name="oven_area_area_left_drawer_barrier_2_left_joint" type="fixed">
    <origin xyz="-0.25 0.107 0.082"/>
    <parent link="oven_area_area_left_drawer_main"/>
    <child link="oven_area_area_left_drawer_barrier_2_left_link"/>
  </joint>
  <link name="oven_area_area_left_drawer_barrier_2_back_link">
    <sphere_inertia mass="0" radius="0"/>
    <visual>
      <origin rpy="0 0 0" xyz="0 0 0"/>
      <geometry>
        <box size="0.036 0.25 0.1"/>
      </geometry>
    </visual>
    <collision>
      <origin rpy="0 0 0" xyz="0 0 0"/>
      <geometry>
        <box size="0.036 0.25 0.1"/>
      </geometry>
    </collision>
  </link>
  <joint name="oven_area_area_left_drawer_barrier_2_back_joint" type="fixed">
    <origin xyz="-0.477 0 0.082"/>
    <parent link="oven_area_area_left_drawer_main"/>
    <child link="oven_area_area_left_drawer_barrier_2_back_link"/>
  </joint>
  <link name="oven_area_area_left_drawer_board_3_link">
    <sphere_inertia mass="0" radius="0"/>
    <visual>
      <origin rpy="0 0 0" xyz="0 0 0"/>
      <geometry>
        <box size="0.49 0.25 0.036"/>
      </geometry>
    </visual>
    <collision>
      <origin rpy="0 0 0" xyz="0 0 0"/>
      <geometry>
        <box size="0.49 0.25 0.036"/>
      </geometry>
    </collision>
  </link>
  <joint name="oven_area_area_left_drawer_board_3_joint" type="fixed">
    <origin xyz="-0.25 0 0.38"/>
    <parent link="oven_area_area_left_drawer_main"/>
    <child link="oven_area_area_left_drawer_board_3_link"/>
  </joint>
  <link name="oven_area_area_left_drawer_barrier_3_right_link">
    <sphere_inertia mass="0" radius="0"/>
    <visual>
      <origin rpy="0 0 0" xyz="0 0 0"/>
      <geometry>
        <box size="0.49 0.036 0.1"/>
      </geometry>
    </visual>
    <collision>
      <origin rpy="0 0 0" xyz="0 0 0"/>
      <geometry>
        <box size="0.49 0.036 0.1"/>
      </geometry>
    </collision>
  </link>
  <joint name="oven_area_area_left_drawer_barrier_3_right_joint" type="fixed">
    <origin xyz="-0.25 -0.107 0.412"/>
    <parent link="oven_area_area_left_drawer_main"/>
    <child link="oven_area_area_left_drawer_barrier_3_right_link"/>
  </joint>
  <link name="oven_area_area_left_drawer_barrier_3_left_link">
    <sphere_inertia mass="0" radius="0"/>
    <visual>
      <origin rpy="0 0 0" xyz="0 0 0"/>
      <geometry>
        <box size="0.49 0.036 0.1"/>
      </geometry>
    </visual>
    <collision>
      <origin rpy="0 0 0" xyz="0 0 0"/>
      <geometry>
        <box size="0.49 0.036 0.1"/>
      </geometry>
    </collision>
  </link>
  <joint name="oven_area_area_left_drawer_barrier_3_left_joint" type="fixed">
    <origin xyz="-0.25 0.107 0.412"/>
    <parent link="oven_area_area_left_drawer_main"/>
    <child link="oven_area_area_left_drawer_barrier_3_left_link"/>
  </joint>
  <link name="oven_area_area_left_drawer_barrier_3_back_link">
    <sphere_inertia mass="0" radius="0"/>
    <visual>
      <origin rpy="0 0 0" xyz="0 0 0"/>
      <geometry>
        <box size="0.036 0.25 0.1"/>
      </geometry>
    </visual>
    <collision>
      <origin rpy="0 0 0" xyz="0 0 0"/>
      <geometry>
        <box size="0.036 0.25 0.1"/>
      </geometry>
    </collision>
  </link>
  <joint name="oven_area_area_left_drawer_barrier_3_back_joint" type="fixed">
    <origin xyz="-0.477 0 0.412"/>
    <parent link="oven_area_area_left_drawer_main"/>
    <child link="oven_area_area_left_drawer_barrier_3_back_link"/>
  </joint>
  <joint name="oven_area_area_right_drawer_main_joint" type="prismatic">
    <origin rpy="0 0 0" xyz="0.29 0.45 0.07"/>
    <parent link="oven_area_area"/>
    <child link="oven_area_area_right_drawer_main"/>
    <axis xyz="1. 0. 0.0"/>
    <limit effort="300" lower="0" upper="0.48" velocity="10"/>
  </joint>
  <link name="oven_area_area_right_drawer_main">
    <sphere_inertia mass="0" radius="0"/>
    <visual>
      <origin rpy="0 0 0" xyz="0 0 0"/>
      <geometry>
        <box size="0.025 0.3 1.33"/>
      </geometry>
    </visual>
    <collision>
      <origin rpy="0 0 0" xyz="0 0 0"/>
      <geometry>
        <box size="0.025 0.3 1.33"/>
      </geometry>
    </collision>
  </link>
  <joint name="oven_area_area_right_drawer_main_padding_joint" type="fixed">
    <parent link="oven_area_area_right_drawer_main"/>
    <child link="oven_area_area_right_drawer_main_padding"/>
    <origin rpy="0 0 0" xyz="-0.03 0.0 0.0"/>
  </joint>
  <link name="oven_area_area_right_drawer_main_padding">
    <sphere_inertia mass="0" radius="0"/>
    <visual>
      <origin rpy="0 0 0" xyz="0 0 0"/>
      <geometry>
        <box size="0.06 0.3 1.33"/>
      </geometry>
    </visual>
    <collision>
      <origin rpy="0 0 0" xyz="0 0 0"/>
      <geometry>
        <box size="0.06 0.3 1.33"/>
      </geometry>
    </collision>
  </link>
  <joint name="oven_area_area_right_drawer_handle_joint" type="fixed">
    <origin rpy="-1.5707963267948966 0 0" xyz="0.08 0.0 0.05"/>
    <parent link="oven_area_area_right_drawer_main"/>
    <child link="oven_area_area_right_drawer_handle"/>
  </joint>
  <link name="oven_area_area_right_drawer_handle">
    <sphere_inertia mass="0" radius="0"/>
    <visual>
      <origin rpy="1.5707963267948966 0 0" xyz="0 0 0"/>
      <geometry>
        <mesh filename="package://iai_kitchen/meshes/handles/VHandle130.obj"/>
      </geometry>
    </visual>
    <collision>
      <origin rpy="1.5707963267948966 0 0" xyz="0 0 0"/>
      <geometry>
        <mesh filename="package://iai_kitchen/meshes/handles/VHandle130.obj"/>
      </geometry>
    </collision>
  </link>
  <link name="oven_area_area_right_drawer_board_0_link">
    <sphere_inertia mass="0" radius="0"/>
    <visual>
      <origin rpy="0 0 0" xyz="0 0 0"/>
      <geometry>
        <box size="0.49 0.25 0.036"/>
      </geometry>
    </visual>
    <collision>
      <origin rpy="0 0 0" xyz="0 0 0"/>
      <geometry>
        <box size="0.49 0.25 0.036"/>
      </geometry>
    </collision>
  </link>
  <joint name="oven_area_area_right_drawer_board_0_joint" type="fixed">
    <origin xyz="-0.25 0 -0.6"/>
    <parent link="oven_area_area_right_drawer_main"/>
    <child link="oven_area_area_right_drawer_board_0_link"/>
  </joint>
  <link name="oven_area_area_right_drawer_barrier_0_right_link">
    <sphere_inertia mass="0" radius="0"/>
    <visual>
      <origin rpy="0 0 0" xyz="0 0 0"/>
      <geometry>
        <box size="0.49 0.036 0.1"/>
      </geometry>
    </visual>
    <collision>
      <origin rpy="0 0 0" xyz="0 0 0"/>
      <geometry>
        <box size="0.49 0.036 0.1"/>
      </geometry>
    </collision>
  </link>
  <joint name="oven_area_area_right_drawer_barrier_0_right_joint" type="fixed">
    <origin xyz="-0.25 -0.107 -0.568"/>
    <parent link="oven_area_area_right_drawer_main"/>
    <child link="oven_area_area_right_drawer_barrier_0_right_link"/>
  </joint>
  <link name="oven_area_area_right_drawer_barrier_0_left_link">
    <sphere_inertia mass="0" radius="0"/>
    <visual>
      <origin rpy="0 0 0" xyz="0 0 0"/>
      <geometry>
        <box size="0.49 0.036 0.1"/>
      </geometry>
    </visual>
    <collision>
      <origin rpy="0 0 0" xyz="0 0 0"/>
      <geometry>
        <box size="0.49 0.036 0.1"/>
      </geometry>
    </collision>
  </link>
  <joint name="oven_area_area_right_drawer_barrier_0_left_joint" type="fixed">
    <origin xyz="-0.25 0.107 -0.568"/>
    <parent link="oven_area_area_right_drawer_main"/>
    <child link="oven_area_area_right_drawer_barrier_0_left_link"/>
  </joint>
  <link name="oven_area_area_right_drawer_barrier_0_back_link">
    <sphere_inertia mass="0" radius="0"/>
    <visual>
      <origin rpy="0 0 0" xyz="0 0 0"/>
      <geometry>
        <box size="0.036 0.25 0.1"/>
      </geometry>
    </visual>
    <collision>
      <origin rpy="0 0 0" xyz="0 0 0"/>
      <geometry>
        <box size="0.036 0.25 0.1"/>
      </geometry>
    </collision>
  </link>
  <joint name="oven_area_area_right_drawer_barrier_0_back_joint" type="fixed">
    <origin xyz="-0.477 0 -0.568"/>
    <parent link="oven_area_area_right_drawer_main"/>
    <child link="oven_area_area_right_drawer_barrier_0_back_link"/>
  </joint>
  <link name="oven_area_area_right_drawer_board_1_link">
    <sphere_inertia mass="0" radius="0"/>
    <visual>
      <origin rpy="0 0 0" xyz="0 0 0"/>
      <geometry>
        <box size="0.49 0.25 0.036"/>
      </geometry>
    </visual>
    <collision>
      <origin rpy="0 0 0" xyz="0 0 0"/>
      <geometry>
        <box size="0.49 0.25 0.036"/>
      </geometry>
    </collision>
  </link>
  <joint name="oven_area_area_right_drawer_board_1_joint" type="fixed">
    <origin xyz="-0.25 0 -0.28"/>
    <parent link="oven_area_area_right_drawer_main"/>
    <child link="oven_area_area_right_drawer_board_1_link"/>
  </joint>
  <link name="oven_area_area_right_drawer_barrier_1_right_link">
    <sphere_inertia mass="0" radius="0"/>
    <visual>
      <origin rpy="0 0 0" xyz="0 0 0"/>
      <geometry>
        <box size="0.49 0.036 0.1"/>
      </geometry>
    </visual>
    <collision>
      <origin rpy="0 0 0" xyz="0 0 0"/>
      <geometry>
        <box size="0.49 0.036 0.1"/>
      </geometry>
    </collision>
  </link>
  <joint name="oven_area_area_right_drawer_barrier_1_right_joint" type="fixed">
    <origin xyz="-0.25 -0.107 -0.24800000000000003"/>
    <parent link="oven_area_area_right_drawer_main"/>
    <child link="oven_area_area_right_drawer_barrier_1_right_link"/>
  </joint>
  <link name="oven_area_area_right_drawer_barrier_1_left_link">
    <sphere_inertia mass="0" radius="0"/>
    <visual>
      <origin rpy="0 0 0" xyz="0 0 0"/>
      <geometry>
        <box size="0.49 0.036 0.1"/>
      </geometry>
    </visual>
    <collision>
      <origin rpy="0 0 0" xyz="0 0 0"/>
      <geometry>
        <box size="0.49 0.036 0.1"/>
      </geometry>
    </collision>
  </link>
  <joint name="oven_area_area_right_drawer_barrier_1_left_joint" type="fixed">
    <origin xyz="-0.25 0.107 -0.24800000000000003"/>
    <parent link="oven_area_area_right_drawer_main"/>
    <child link="oven_area_area_right_drawer_barrier_1_left_link"/>
  </joint>
  <link name="oven_area_area_right_drawer_barrier_1_back_link">
    <sphere_inertia mass="0" radius="0"/>
    <visual>
      <origin rpy="0 0 0" xyz="0 0 0"/>
      <geometry>
        <box size="0.036 0.25 0.1"/>
      </geometry>
    </visual>
    <collision>
      <origin rpy="0 0 0" xyz="0 0 0"/>
      <geometry>
        <box size="0.036 0.25 0.1"/>
      </geometry>
    </collision>
  </link>
  <joint name="oven_area_area_right_drawer_barrier_1_back_joint" type="fixed">
    <origin xyz="-0.477 0 -0.24800000000000003"/>
    <parent link="oven_area_area_right_drawer_main"/>
    <child link="oven_area_area_right_drawer_barrier_1_back_link"/>
  </joint>
  <link name="oven_area_area_right_drawer_board_2_link">
    <sphere_inertia mass="0" radius="0"/>
    <visual>
      <origin rpy="0 0 0" xyz="0 0 0"/>
      <geometry>
        <box size="0.49 0.25 0.036"/>
      </geometry>
    </visual>
    <collision>
      <origin rpy="0 0 0" xyz="0 0 0"/>
      <geometry>
        <box size="0.49 0.25 0.036"/>
      </geometry>
    </collision>
  </link>
  <joint name="oven_area_area_right_drawer_board_2_joint" type="fixed">
    <origin xyz="-0.25 0 0.05"/>
    <parent link="oven_area_area_right_drawer_main"/>
    <child link="oven_area_area_right_drawer_board_2_link"/>
  </joint>
  <link name="oven_area_area_right_drawer_barrier_2_right_link">
    <sphere_inertia mass="0" radius="0"/>
    <visual>
      <origin rpy="0 0 0" xyz="0 0 0"/>
      <geometry>
        <box size="0.49 0.036 0.1"/>
      </geometry>
    </visual>
    <collision>
      <origin rpy="0 0 0" xyz="0 0 0"/>
      <geometry>
        <box size="0.49 0.036 0.1"/>
      </geometry>
    </collision>
  </link>
  <joint name="oven_area_area_right_drawer_barrier_2_right_joint" type="fixed">
    <origin xyz="-0.25 -0.107 0.082"/>
    <parent link="oven_area_area_right_drawer_main"/>
    <child link="oven_area_area_right_drawer_barrier_2_right_link"/>
  </joint>
  <link name="oven_area_area_right_drawer_barrier_2_left_link">
    <sphere_inertia mass="0" radius="0"/>
    <visual>
      <origin rpy="0 0 0" xyz="0 0 0"/>
      <geometry>
        <box size="0.49 0.036 0.1"/>
      </geometry>
    </visual>
    <collision>
      <origin rpy="0 0 0" xyz="0 0 0"/>
      <geometry>
        <box size="0.49 0.036 0.1"/>
      </geometry>
    </collision>
  </link>
  <joint name="oven_area_area_right_drawer_barrier_2_left_joint" type="fixed">
    <origin xyz="-0.25 0.107 0.082"/>
    <parent link="oven_area_area_right_drawer_main"/>
    <child link="oven_area_area_right_drawer_barrier_2_left_link"/>
  </joint>
  <link name="oven_area_area_right_drawer_barrier_2_back_link">
    <sphere_inertia mass="0" radius="0"/>
    <visual>
      <origin rpy="0 0 0" xyz="0 0 0"/>
      <geometry>
        <box size="0.036 0.25 0.1"/>
      </geometry>
    </visual>
    <collision>
      <origin rpy="0 0 0" xyz="0 0 0"/>
      <geometry>
        <box size="0.036 0.25 0.1"/>
      </geometry>
    </collision>
  </link>
  <joint name="oven_area_area_right_drawer_barrier_2_back_joint" type="fixed">
    <origin xyz="-0.477 0 0.082"/>
    <parent link="oven_area_area_right_drawer_main"/>
    <child link="oven_area_area_right_drawer_barrier_2_back_link"/>
  </joint>
  <link name="oven_area_area_right_drawer_board_3_link">
    <sphere_inertia mass="0" radius="0"/>
    <visual>
      <origin rpy="0 0 0" xyz="0 0 0"/>
      <geometry>
        <box size="0.49 0.25 0.036"/>
      </geometry>
    </visual>
    <collision>
      <origin rpy="0 0 0" xyz="0 0 0"/>
      <geometry>
        <box size="0.49 0.25 0.036"/>
      </geometry>
    </collision>
  </link>
  <joint name="oven_area_area_right_drawer_board_3_joint" type="fixed">
    <origin xyz="-0.25 0 0.38"/>
    <parent link="oven_area_area_right_drawer_main"/>
    <child link="oven_area_area_right_drawer_board_3_link"/>
  </joint>
  <link name="oven_area_area_right_drawer_barrier_3_right_link">
    <sphere_inertia mass="0" radius="0"/>
    <visual>
      <origin rpy="0 0 0" xyz="0 0 0"/>
      <geometry>
        <box size="0.49 0.036 0.1"/>
      </geometry>
    </visual>
    <collision>
      <origin rpy="0 0 0" xyz="0 0 0"/>
      <geometry>
        <box size="0.49 0.036 0.1"/>
      </geometry>
    </collision>
  </link>
  <joint name="oven_area_area_right_drawer_barrier_3_right_joint" type="fixed">
    <origin xyz="-0.25 -0.107 0.412"/>
    <parent link="oven_area_area_right_drawer_main"/>
    <child link="oven_area_area_right_drawer_barrier_3_right_link"/>
  </joint>
  <link name="oven_area_area_right_drawer_barrier_3_left_link">
    <sphere_inertia mass="0" radius="0"/>
    <visual>
      <origin rpy="0 0 0" xyz="0 0 0"/>
      <geometry>
        <box size="0.49 0.036 0.1"/>
      </geometry>
    </visual>
    <collision>
      <origin rpy="0 0 0" xyz="0 0 0"/>
      <geometry>
        <box size="0.49 0.036 0.1"/>
      </geometry>
    </collision>
  </link>
  <joint name="oven_area_area_right_drawer_barrier_3_left_joint" type="fixed">
    <origin xyz="-0.25 0.107 0.412"/>
    <parent link="oven_area_area_right_drawer_main"/>
    <child link="oven_area_area_right_drawer_barrier_3_left_link"/>
  </joint>
  <link name="oven_area_area_right_drawer_barrier_3_back_link">
    <sphere_inertia mass="0" radius="0"/>
    <visual>
      <origin rpy="0 0 0" xyz="0 0 0"/>
      <geometry>
        <box size="0.036 0.25 0.1"/>
      </geometry>
    </visual>
    <collision>
      <origin rpy="0 0 0" xyz="0 0 0"/>
      <geometry>
        <box size="0.036 0.25 0.1"/>
      </geometry>
    </collision>
  </link>
  <joint name="oven_area_area_right_drawer_barrier_3_back_joint" type="fixed">
    <origin xyz="-0.477 0 0.412"/>
    <parent link="oven_area_area_right_drawer_main"/>
    <child link="oven_area_area_right_drawer_barrier_3_back_link"/>
  </joint>
  <link name="kitchen_island_footprint">
    <sphere_inertia mass="0" radius="0"/>
  </link>
  <link name="kitchen_island">
    <sphere_inertia mass="0" radius="0"/>
    <visual>
      <origin rpy="0 0 0" xyz="0 0 0"/>
      <geometry>
        <mesh filename="package://iai_kitchen/meshes/racks/IslandArea.obj"/>
      </geometry>
    </visual>
    <collision>
      <origin rpy="0 0 0" xyz="0 0 0"/>
      <geometry>
        <mesh filename="package://iai_kitchen/meshes/racks/IslandArea.obj"/>
      </geometry>
    </collision>
  </link>
  <joint name="kitchen_island_footprint_joint" type="fixed">
    <origin rpy="0 0 0" xyz="-1.365 0.59 0"/>
    <child link="kitchen_island_footprint"/>
    <parent link="room_link"/>
  </joint>
  <joint name="kitchen_island_joint" type="fixed">
    <origin rpy="0 0 0" xyz="0.2975 1.1292 0.421"/>
    <parent link="kitchen_island_footprint"/>
    <child link="kitchen_island"/>
  </joint>
  <link name="kitchen_island_surface">
    <sphere_inertia mass="0" radius="0"/>
    <collision>
      <origin rpy="0 0 0" xyz="0 0 0"/>
      <geometry>
        <box size="0.8 2.45 0.02"/>
      </geometry>
    </collision>
  </link>
  <joint name="kitchen_island_surface_joint" type="fixed">
    <origin rpy="0 0 0" xyz="0.0 0. 0.42"/>
    <parent link="kitchen_island"/>
    <child link="kitchen_island_surface"/>
  </joint>
  <link name="kitchen_island_stove">
    <sphere_inertia mass="0" radius="0"/>
    <visual>
      <origin rpy="0 0 0" xyz="0 0 0"/>
      <geometry>
        <mesh filename="package://iai_kitchen/meshes/misc/Stove.obj"/>
      </geometry>
    </visual>
    <collision>
      <origin rpy="0 0 0" xyz="0 0 0"/>
      <geometry>
        <mesh filename="package://iai_kitchen/meshes/misc/Stove.obj"/>
      </geometry>
    </collision>
  </link>
  <joint name="kitchen_island_stove_joint" type="fixed">
    <origin rpy="0 0 0" xyz="0.0 0.7658 0.4315"/>
    <parent link="kitchen_island"/>
    <child link="kitchen_island_stove"/>
  </joint>
  <link name="kitchen_island_left_panel">
    <sphere_inertia mass="0" radius="0"/>
    <visual>
      <origin rpy="0 0 0" xyz="0 0 0"/>
      <geometry>
        <mesh filename="package://iai_kitchen/meshes/drawers/Panel_60.obj"/>
      </geometry>
    </visual>
    <collision>
      <origin rpy="0 0 0" xyz="0 0 0"/>
      <geometry>
        <mesh filename="package://iai_kitchen/meshes/drawers/Panel_60.obj"/>
      </geometry>
    </collision>
  </link>
  <joint name="kitchen_island_left_panel_joint" type="fixed">
    <origin rpy="0 0 0" xyz="0.2725 -0.8 0.329 "/>
    <parent link="kitchen_island"/>
    <child link="kitchen_island_left_panel"/>
  </joint>
  <link name="kitchen_island_left_upper_drawer_main">
    <sphere_inertia mass="0" radius="0"/>
    <visual>
      <origin rpy="0 0 0" xyz="0 0 0"/>
      <geometry>
        <mesh filename="package://iai_kitchen/meshes/drawers/Drawer_60_29.obj"/>
      </geometry>
    </visual>
    <collision>
      <origin rpy="0 0 0" xyz="0 0 0"/>
      <geometry>
        <mesh filename="package://iai_kitchen/meshes/drawers/Drawer_60_29.obj"/>
      </geometry>
    </collision>
  </link>
  <link name="kitchen_island_left_upper_drawer_handle">
    <sphere_inertia mass="0" radius="0"/>
    <visual>
      <origin rpy="0 0 0" xyz="0 0 0"/>
      <geometry>
        <mesh filename="package://iai_kitchen/meshes/handles/Handle60.obj"/>
      </geometry>
    </visual>
    <collision>
      <origin rpy="0 0 0" xyz="0 0 0"/>
      <geometry>
        <mesh filename="package://iai_kitchen/meshes/handles/Handle60.obj"/>
      </geometry>
    </collision>
  </link>
  <joint name="kitchen_island_left_upper_drawer_main_joint" type="prismatic">
    <origin rpy="0 0 0" xyz="0.0025 -0.8 0.114 "/>
    <parent link="kitchen_island"/>
    <child link="kitchen_island_left_upper_drawer_main"/>
    <axis xyz="1. 0. 0.0"/>
    <limit effort="300" lower="0" upper="0.48" velocity="10"/>
    <!--
          <limit effort="300" lower="0" upper="0" velocity="10"/>
      -->
  </joint>
  <joint name="kitchen_island_left_upper_drawer_handle_joint" type="fixed">
    <origin rpy="0 0 0" xyz="0.3525 0 0.11"/>
    <parent link="kitchen_island_left_upper_drawer_main"/>
    <child link="kitchen_island_left_upper_drawer_handle"/>
    <axis xyz="0 0 1"/>
    <limit effort="300" lower="0" upper="1.5707963267948966" velocity="10"/>
  </joint>
  <link name="kitchen_island_left_lower_drawer_main">
    <sphere_inertia mass="0" radius="0"/>
    <visual>
      <origin rpy="0 0 0" xyz="0 0 0"/>
      <geometry>
        <mesh filename="package://iai_kitchen/meshes/drawers/Drawer_60_29.obj"/>
      </geometry>
    </visual>
    <collision>
      <origin rpy="0 0 0" xyz="0 0 0"/>
      <geometry>
        <mesh filename="package://iai_kitchen/meshes/drawers/Drawer_60_29.obj"/>
      </geometry>
    </collision>
  </link>
  <link name="kitchen_island_left_lower_drawer_handle">
    <sphere_inertia mass="0" radius="0"/>
    <visual>
      <origin rpy="0 0 0" xyz="0 0 0"/>
      <geometry>
        <mesh filename="package://iai_kitchen/meshes/handles/Handle60.obj"/>
      </geometry>
    </visual>
    <collision>
      <origin rpy="0 0 0" xyz="0 0 0"/>
      <geometry>
        <mesh filename="package://iai_kitchen/meshes/handles/Handle60.obj"/>
      </geometry>
    </collision>
  </link>
  <joint name="kitchen_island_left_lower_drawer_main_joint" type="prismatic">
    <origin rpy="0 0 0" xyz="0.0025 -0.8 -0.176 "/>
    <parent link="kitchen_island"/>
    <child link="kitchen_island_left_lower_drawer_main"/>
    <axis xyz="1. 0. 0.0"/>
    <limit effort="300" lower="0" upper="0.48" velocity="10"/>
    <!--
          <limit effort="300" lower="0" upper="0" velocity="10"/>
      -->
  </joint>
  <joint name="kitchen_island_left_lower_drawer_handle_joint" type="fixed">
    <origin rpy="0 0 0" xyz="0.3525 0 0.11"/>
    <parent link="kitchen_island_left_lower_drawer_main"/>
    <child link="kitchen_island_left_lower_drawer_handle"/>
    <axis xyz="0 0 1"/>
    <limit effort="300" lower="0" upper="1.5707963267948966" velocity="10"/>
  </joint>
  <link name="kitchen_island_middle_panel">
    <sphere_inertia mass="0" radius="0"/>
    <visual>
      <origin rpy="0 0 0" xyz="0 0 0"/>
      <geometry>
        <mesh filename="package://iai_kitchen/meshes/drawers/Panel_100.obj"/>
      </geometry>
    </visual>
    <collision>
      <origin rpy="0 0 0" xyz="0 0 0"/>
      <geometry>
        <mesh filename="package://iai_kitchen/meshes/drawers/Panel_100.obj"/>
      </geometry>
    </collision>
  </link>
  <joint name="kitchen_island_middle_panel_joint" type="fixed">
    <origin rpy="0 0 0" xyz="0.2725 0 0.329 "/>
    <parent link="kitchen_island"/>
    <child link="kitchen_island_middle_panel"/>
  </joint>
  <link name="kitchen_island_middle_upper_drawer_main">
    <sphere_inertia mass="0" radius="0"/>
    <visual>
      <origin rpy="0 0 0" xyz="0 0 0"/>
      <geometry>
        <mesh filename="package://iai_kitchen/meshes/drawers/Drawer_100_29.obj"/>
      </geometry>
    </visual>
    <collision>
      <origin rpy="0 0 0" xyz="0 0 0"/>
      <geometry>
        <mesh filename="package://iai_kitchen/meshes/drawers/Drawer_100_29.obj"/>
      </geometry>
    </collision>
  </link>
  <link name="kitchen_island_middle_upper_drawer_handle">
    <sphere_inertia mass="0" radius="0"/>
    <visual>
      <origin rpy="0 0 0" xyz="0 0 0"/>
      <geometry>
        <mesh filename="package://iai_kitchen/meshes/handles/Handle100.obj"/>
      </geometry>
    </visual>
    <collision>
      <origin rpy="0 0 0" xyz="0 0 0"/>
      <geometry>
        <mesh filename="package://iai_kitchen/meshes/handles/Handle100.obj"/>
      </geometry>
    </collision>
  </link>
  <joint name="kitchen_island_middle_upper_drawer_main_joint" type="prismatic">
    <origin rpy="0 0 0" xyz="0.0025 0 0.114 "/>
    <parent link="kitchen_island"/>
    <child link="kitchen_island_middle_upper_drawer_main"/>
    <axis xyz="1. 0. 0.0"/>
    <limit effort="300" lower="0" upper="0.48" velocity="10"/>
    <!--
          <limit effort="300" lower="0" upper="0" velocity="10"/>
      -->
  </joint>
  <joint name="kitchen_island_middle_upper_drawer_handle_joint" type="fixed">
    <origin rpy="0 0 0" xyz="0.3525 0 0.11"/>
    <parent link="kitchen_island_middle_upper_drawer_main"/>
    <child link="kitchen_island_middle_upper_drawer_handle"/>
    <axis xyz="0 0 1"/>
    <limit effort="300" lower="0" upper="1.5707963267948966" velocity="10"/>
  </joint>
  <link name="kitchen_island_middle_lower_drawer_main">
    <sphere_inertia mass="0" radius="0"/>
    <visual>
      <origin rpy="0 0 0" xyz="0 0 0"/>
      <geometry>
        <mesh filename="package://iai_kitchen/meshes/drawers/Drawer_100_29.obj"/>
      </geometry>
    </visual>
    <collision>
      <origin rpy="0 0 0" xyz="0 0 0"/>
      <geometry>
        <mesh filename="package://iai_kitchen/meshes/drawers/Drawer_100_29.obj"/>
      </geometry>
    </collision>
  </link>
  <link name="kitchen_island_middle_lower_drawer_handle">
    <sphere_inertia mass="0" radius="0"/>
    <visual>
      <origin rpy="0 0 0" xyz="0 0 0"/>
      <geometry>
        <mesh filename="package://iai_kitchen/meshes/handles/Handle100.obj"/>
      </geometry>
    </visual>
    <collision>
      <origin rpy="0 0 0" xyz="0 0 0"/>
      <geometry>
        <mesh filename="package://iai_kitchen/meshes/handles/Handle100.obj"/>
      </geometry>
    </collision>
  </link>
  <joint name="kitchen_island_middle_lower_drawer_main_joint" type="prismatic">
    <origin rpy="0 0 0" xyz="0.0025 0 -0.176 "/>
    <parent link="kitchen_island"/>
    <child link="kitchen_island_middle_lower_drawer_main"/>
    <axis xyz="1. 0. 0.0"/>
    <limit effort="300" lower="0" upper="0.48" velocity="10"/>
    <!--
          <limit effort="300" lower="0" upper="0" velocity="10"/>
      -->
  </joint>
  <joint name="kitchen_island_middle_lower_drawer_handle_joint" type="fixed">
    <origin rpy="0 0 0" xyz="0.3525 0 0.11"/>
    <parent link="kitchen_island_middle_lower_drawer_main"/>
    <child link="kitchen_island_middle_lower_drawer_handle"/>
    <axis xyz="0 0 1"/>
    <limit effort="300" lower="0" upper="1.5707963267948966" velocity="10"/>
  </joint>
  <link name="kitchen_island_right_panel">
    <sphere_inertia mass="0" radius="0"/>
    <visual>
      <origin rpy="0 0 0" xyz="0 0 0"/>
      <geometry>
        <mesh filename="package://iai_kitchen/meshes/drawers/Panel_60.obj"/>
      </geometry>
    </visual>
    <collision>
      <origin rpy="0 0 0" xyz="0 0 0"/>
      <geometry>
        <mesh filename="package://iai_kitchen/meshes/drawers/Panel_60.obj"/>
      </geometry>
    </collision>
  </link>
  <joint name="kitchen_island_right_panel_joint" type="fixed">
    <origin rpy="0 0 0" xyz="0.2725 0.8 0.329 "/>
    <parent link="kitchen_island"/>
    <child link="kitchen_island_right_panel"/>
  </joint>
  <link name="kitchen_island_right_upper_drawer_main">
    <sphere_inertia mass="0" radius="0"/>
    <visual>
      <origin rpy="0 0 0" xyz="0 0 0"/>
      <geometry>
        <mesh filename="package://iai_kitchen/meshes/drawers/Drawer_60_29.obj"/>
      </geometry>
    </visual>
    <collision>
      <origin rpy="0 0 0" xyz="0 0 0"/>
      <geometry>
        <mesh filename="package://iai_kitchen/meshes/drawers/Drawer_60_29.obj"/>
      </geometry>
    </collision>
  </link>
  <link name="kitchen_island_right_upper_drawer_handle">
    <sphere_inertia mass="0" radius="0"/>
    <visual>
      <origin rpy="0 0 0" xyz="0 0 0"/>
      <geometry>
        <mesh filename="package://iai_kitchen/meshes/handles/Handle60.obj"/>
      </geometry>
    </visual>
    <collision>
      <origin rpy="0 0 0" xyz="0 0 0"/>
      <geometry>
        <mesh filename="package://iai_kitchen/meshes/handles/Handle60.obj"/>
      </geometry>
    </collision>
  </link>
  <joint name="kitchen_island_right_upper_drawer_main_joint" type="prismatic">
    <origin rpy="0 0 0" xyz="0.0025 0.8 0.114 "/>
    <parent link="kitchen_island"/>
    <child link="kitchen_island_right_upper_drawer_main"/>
    <axis xyz="1. 0. 0.0"/>
    <limit effort="300" lower="0" upper="0.48" velocity="10"/>
    <!--
          <limit effort="300" lower="0" upper="0" velocity="10"/>
      -->
  </joint>
  <joint name="kitchen_island_right_upper_drawer_handle_joint" type="fixed">
    <origin rpy="0 0 0" xyz="0.3525 0 0.11"/>
    <parent link="kitchen_island_right_upper_drawer_main"/>
    <child link="kitchen_island_right_upper_drawer_handle"/>
    <axis xyz="0 0 1"/>
    <limit effort="300" lower="0" upper="1.5707963267948966" velocity="10"/>
  </joint>
  <link name="kitchen_island_right_lower_drawer_main">
    <sphere_inertia mass="0" radius="0"/>
    <visual>
      <origin rpy="0 0 0" xyz="0 0 0"/>
      <geometry>
        <mesh filename="package://iai_kitchen/meshes/drawers/Drawer_60_29.obj"/>
      </geometry>
    </visual>
    <collision>
      <origin rpy="0 0 0" xyz="0 0 0"/>
      <geometry>
        <mesh filename="package://iai_kitchen/meshes/drawers/Drawer_60_29.obj"/>
      </geometry>
    </collision>
  </link>
  <link name="kitchen_island_right_lower_drawer_handle">
    <sphere_inertia mass="0" radius="0"/>
    <visual>
      <origin rpy="0 0 0" xyz="0 0 0"/>
      <geometry>
        <mesh filename="package://iai_kitchen/meshes/handles/Handle60.obj"/>
      </geometry>
    </visual>
    <collision>
      <origin rpy="0 0 0" xyz="0 0 0"/>
      <geometry>
        <mesh filename="package://iai_kitchen/meshes/handles/Handle60.obj"/>
      </geometry>
    </collision>
  </link>
  <joint name="kitchen_island_right_lower_drawer_main_joint" type="prismatic">
    <origin rpy="0 0 0" xyz="0.0025 0.8 -0.176 "/>
    <parent link="kitchen_island"/>
    <child link="kitchen_island_right_lower_drawer_main"/>
    <axis xyz="1. 0. 0.0"/>
    <limit effort="300" lower="0" upper="0.48" velocity="10"/>
    <!--
          <limit effort="300" lower="0" upper="0" velocity="10"/>
      -->
  </joint>
  <joint name="kitchen_island_right_lower_drawer_handle_joint" type="fixed">
    <origin rpy="0 0 0" xyz="0.3525 0 0.11"/>
    <parent link="kitchen_island_right_lower_drawer_main"/>
    <child link="kitchen_island_right_lower_drawer_handle"/>
    <axis xyz="0 0 1"/>
    <limit effort="300" lower="0" upper="1.5707963267948966" velocity="10"/>
  </joint>
  <link name="fridge_area_footprint">
    <sphere_inertia mass="0" radius="0"/>
  </link>
  <link name="fridge_area">
    <sphere_inertia mass="0" radius="0"/>
    <visual>
      <origin rpy="0 0 0" xyz="0 0 0.01"/>
      <geometry>
        <mesh filename="package://iai_kitchen/meshes/racks/FridgeArea.obj"/>
      </geometry>
    </visual>
    <collision>
      <origin rpy="0 0 0" xyz="0 0 0.01"/>
      <geometry>
        <mesh filename="package://iai_kitchen/meshes/racks/FridgeArea.obj"/>
        <!--mesh filename="package://iai_kitchen/meshes/collision/kitchen_fridge.stl"/-->
      </geometry>
    </collision>
  </link>
  <joint name="fridge_area_footprint_joint" type="fixed">
    <origin rpy="0 0 3.141592653589793" xyz="1.845 -0.73 0"/>
    <child link="fridge_area_footprint"/>
    <parent link="room_link"/>
  </joint>
  <joint name="fridge_area_main_joint" type="fixed">
    <origin rpy="0 0 0" xyz="0.29 0.3 0.74"/>
    <parent link="fridge_area_footprint"/>
    <child link="fridge_area"/>
  </joint>
  <link name="fridge_area_lower_drawer_main">
    <sphere_inertia mass="0" radius="0"/>
    <visual>
      <origin rpy="0 0 0" xyz="0 0 0"/>
      <geometry>
        <mesh filename="package://iai_kitchen/meshes/drawers/Drawer_60_29.obj"/>
      </geometry>
    </visual>
    <collision>
      <origin rpy="0 0 0" xyz="0 0 0"/>
      <geometry>
        <mesh filename="package://iai_kitchen/meshes/drawers/Drawer_60_29.obj"/>
      </geometry>
    </collision>
  </link>
  <link name="fridge_area_lower_drawer_handle">
    <sphere_inertia mass="0" radius="0"/>
    <visual>
      <origin rpy="0 0 0" xyz="0 0 0"/>
      <geometry>
        <mesh filename="package://iai_kitchen/meshes/handles/Handle60.obj"/>
      </geometry>
    </visual>
    <collision>
      <origin rpy="0 0 0" xyz="0 0 0"/>
      <geometry>
        <mesh filename="package://iai_kitchen/meshes/handles/Handle60.obj"/>
      </geometry>
    </collision>
  </link>
  <joint name="fridge_area_lower_drawer_main_joint" type="prismatic">
    <origin rpy="0 0 0" xyz="0.0 -0.0 -0.4175 "/>
    <parent link="fridge_area"/>
    <child link="fridge_area_lower_drawer_main"/>
    <axis xyz="1. 0. 0.0"/>
    <limit effort="300" lower="0" upper="0.48" velocity="10"/>
    <!--
          <limit effort="300" lower="0" upper="0" velocity="10"/>
      -->
  </joint>
  <joint name="fridge_area_lower_drawer_handle_joint" type="fixed">
    <origin rpy="0 0 0" xyz="0.3525 0 0.11"/>
    <parent link="fridge_area_lower_drawer_main"/>
    <child link="fridge_area_lower_drawer_handle"/>
    <axis xyz="0 0 1"/>
    <limit effort="300" lower="0" upper="1.5707963267948966" velocity="10"/>
  </joint>
  <link name="iai_fridge_main">
    <sphere_inertia mass="0" radius="0"/>
    <visual>
      <origin rpy="0 0 0" xyz="0 0 0"/>
      <geometry>
        <mesh filename="package://iai_kitchen/meshes/misc/Fridge.obj"/>
      </geometry>
    </visual>
    <collision>
      <origin rpy="0 0 0" xyz="0 0 0"/>
      <geometry>
        <mesh filename="package://iai_kitchen/meshes/misc/Fridge.obj"/>
      </geometry>
    </collision>
  </link>
  <link name="iai_fridge_main_middle_level">
    <visual>
      <origin rpy="0 0 0" xyz="0 0 0"/>
      <geometry>
        <box size="0.29 0.50 0.01"/>
      </geometry>
    </visual>
    <collision>
      <origin rpy="0 0 0" xyz="0 0 0"/>
      <geometry>
        <box size="0.29 0.50 0.01"/>
      </geometry>
    </collision>
  </link>
  <link name="iai_fridge_door">
    <sphere_inertia mass="0" radius="0"/>
    <visual>
      <origin rpy="0 0 0" xyz="0 0 0"/>
      <geometry>
        <mesh filename="package://iai_kitchen/meshes/misc/FridgeDoor.obj"/>
      </geometry>
    </visual>
    <collision>
      <origin rpy="0 0 0" xyz="0 0 0"/>
      <geometry>
        <mesh filename="package://iai_kitchen/meshes/misc/FridgeDoor.obj"/>
      </geometry>
    </collision>
  </link>
  <link name="iai_fridge_ceiling">
    <visual>
      <geometry>
        <box size="0.56 0.5 0.13"/>
      </geometry>
    </visual>
    <collision>
      <geometry>
        <box size="0.56 0.5 0.13"/>
      </geometry>
    </collision>
  </link>
  <link name="iai_fridge_door_handle">
    <sphere_inertia mass="0" radius="0"/>
    <visual>
      <origin rpy="0 0 0" xyz="0 0 0"/>
      <geometry>
        <mesh filename="package://iai_kitchen/meshes/handles/VHandle90.obj"/>
      </geometry>
    </visual>
    <collision>
      <origin rpy="0 0 0" xyz="0 0 0"/>
      <geometry>
        <mesh filename="package://iai_kitchen/meshes/handles/VHandle90.obj"/>
      </geometry>
    </collision>
  </link>
  <joint name="iai_fridge_main_joint" type="fixed">
    <origin rpy="0 0 0" xyz="0 0 0.25"/>
    <parent link="fridge_area"/>
    <child link="iai_fridge_main"/>
  </joint>
  <joint name="iai_fridge_main_middle_level_joint" type="fixed">
    <parent link="iai_fridge_main"/>
    <child link="iai_fridge_main_middle_level"/>
    <origin rpy="0 0 0" xyz="-0.01 0 0.01"/>
  </joint>
  <joint name="iai_fridge_door_joint" type="revolute">
    <origin rpy="0 0 0" xyz="0.29 0.3 0"/>
    <parent link="iai_fridge_main"/>
    <child link="iai_fridge_door"/>
    <axis xyz="0 0 1"/>
    <limit effort="300" lower="0" upper="1.5707963267948966" velocity="10"/>
    <!--
      <limit lower="0" upper="0" effort="300" velocity="10"/>
-->
  </joint>
  <joint name="iai_fridge_ceiling_joint" type="fixed">
    <origin xyz="0.0 0.0 0.44"/>
    <parent link="iai_fridge_main"/>
    <child link="iai_fridge_ceiling"/>
  </joint>
  <joint name="iai_fridge_door_handle_joint" type="fixed">
    <origin rpy="0 0 0" xyz="0.07 -0.57 0."/>
    <parent link="iai_fridge_door"/>
    <child link="iai_fridge_door_handle"/>
  </joint>
  <link name="iai_fridge_door_block">
    <visual>
      <geometry>
        <box size="0.04 0.523 0.88"/>
      </geometry>
    </visual>
    <collision>
      <geometry>
        <box size="0.04 0.523 0.88"/>
      </geometry>
    </collision>
  </link>
  <link name="iai_fridge_door_block_right_bar">
    <visual>
      <geometry>
        <box size="0.06 0.015 0.73"/>
      </geometry>
    </visual>
    <collision>
      <geometry>
        <box size="0.06 0.015 0.73"/>
      </geometry>
    </collision>
  </link>
  <link name="iai_fridge_door_block_left_bar">
    <visual>
      <geometry>
        <box size="0.06 0.015 0.73"/>
      </geometry>
    </visual>
    <collision>
      <geometry>
        <box size="0.06 0.015 0.73"/>
      </geometry>
    </collision>
  </link>
  <link name="iai_fridge_door_block_top_bar">
    <visual>
      <geometry>
        <box size="0.045 0.46 0.01"/>
      </geometry>
    </visual>
    <collision>
      <geometry>
        <box size="0.045 0.46 0.01"/>
      </geometry>
    </collision>
  </link>
  <joint name="iai_fridge_door_block_joint" type="fixed">
    <origin xyz="-0.025 -0.27 -0.01"/>
    <parent link="iai_fridge_door"/>
    <child link="iai_fridge_door_block"/>
  </joint>
  <joint name="iai_fridge_door_block_right_bar_joint" type="fixed">
    <origin xyz="-0.0425 -0.2225 0.01"/>
    <parent link="iai_fridge_door_block"/>
    <child link="iai_fridge_door_block_right_bar"/>
  </joint>
  <joint name="iai_fridge_door_block_left_bar_joint" type="fixed">
    <origin xyz="-0.0425 0.2225 0.01"/>
    <parent link="iai_fridge_door_block"/>
    <child link="iai_fridge_door_block_left_bar"/>
  </joint>
  <joint name="iai_fridge_door_block_top_bar_joint" type="fixed">
    <origin xyz="-0.03 0 0.37"/>
    <parent link="iai_fridge_door_block"/>
    <child link="iai_fridge_door_block_top_bar"/>
  </joint>
  <joint name="iai_fridge_door_shelf1_to_door" type="fixed">
    <origin xyz="-0.07 0 -0.3525 "/>
    <child link="iai_fridge_door_shelf1_bottom"/>
    <parent link="iai_fridge_door_block"/>
  </joint>
  <link name="iai_fridge_door_shelf1_bottom">
    <visual>
      <geometry>
        <box size="0.1 0.35 0.01"/>
      </geometry>
    </visual>
    <collision>
      <geometry>
        <box size="0.1 0.35 0.01"/>
      </geometry>
    </collision>
  </link>
  <link name="iai_fridge_door_shelf1_left_side">
    <visual>
      <geometry>
        <box size="0.115 0.06 0.1"/>
      </geometry>
    </visual>
    <collision>
      <geometry>
        <box size="0.115 0.06 0.1"/>
      </geometry>
    </collision>
  </link>
  <link name="iai_fridge_door_shelf1_right_side">
    <visual>
      <geometry>
        <box size="0.115 0.06 0.1"/>
      </geometry>
    </visual>
    <collision>
      <geometry>
        <box size="0.115 0.06 0.1"/>
      </geometry>
    </collision>
  </link>
  <link name="iai_fridge_door_shelf1_front_side">
    <visual>
      <geometry>
        <box size="0.02 0.35 0.1"/>
      </geometry>
    </visual>
    <collision>
      <geometry>
        <box size="0.01 0.35 0.1"/>
      </geometry>
    </collision>
  </link>
  <joint name="iai_fridge_door_shelf1_left_to_bottom" type="fixed">
    <origin xyz="-0.0025 -0.2 0.045000000000000005"/>
    <parent link="iai_fridge_door_shelf1_bottom"/>
    <child link="iai_fridge_door_shelf1_left_side"/>
  </joint>
  <joint name="iai_fridge_door_shelf1_right_to_bottom" type="fixed">
    <origin xyz="-0.0025 0.2 0.045000000000000005"/>
    <parent link="iai_fridge_door_shelf1_bottom"/>
    <child link="iai_fridge_door_shelf1_right_side"/>
  </joint>
  <joint name="iai_fridge_door_shelf1_front_to_bottom" type="fixed">
    <origin xyz="-0.05 0 0.045000000000000005"/>
    <parent link="iai_fridge_door_shelf1_bottom"/>
    <child link="iai_fridge_door_shelf1_front_side"/>
  </joint>
  <joint name="iai_fridge_door_shelf2_to_door" type="fixed">
    <origin xyz="-0.07 0 0.02"/>
    <child link="iai_fridge_door_shelf2_bottom"/>
    <parent link="iai_fridge_door_block"/>
  </joint>
  <link name="iai_fridge_door_shelf2_bottom">
    <visual>
      <geometry>
        <box size="0.1 0.35 0.01"/>
      </geometry>
    </visual>
    <collision>
      <geometry>
        <box size="0.1 0.35 0.01"/>
      </geometry>
    </collision>
  </link>
  <link name="iai_fridge_door_shelf2_left_side">
    <visual>
      <geometry>
        <box size="0.115 0.06 0.065"/>
      </geometry>
    </visual>
    <collision>
      <geometry>
        <box size="0.115 0.06 0.065"/>
      </geometry>
    </collision>
  </link>
  <link name="iai_fridge_door_shelf2_right_side">
    <visual>
      <geometry>
        <box size="0.115 0.06 0.065"/>
      </geometry>
    </visual>
    <collision>
      <geometry>
        <box size="0.115 0.06 0.065"/>
      </geometry>
    </collision>
  </link>
  <link name="iai_fridge_door_shelf2_front_side">
    <visual>
      <geometry>
        <box size="0.02 0.35 0.065"/>
      </geometry>
    </visual>
    <collision>
      <geometry>
        <box size="0.01 0.35 0.065"/>
      </geometry>
    </collision>
  </link>
  <joint name="iai_fridge_door_shelf2_left_to_bottom" type="fixed">
    <origin xyz="-0.0025 -0.2 0.0275"/>
    <parent link="iai_fridge_door_shelf2_bottom"/>
    <child link="iai_fridge_door_shelf2_left_side"/>
  </joint>
  <joint name="iai_fridge_door_shelf2_right_to_bottom" type="fixed">
    <origin xyz="-0.0025 0.2 0.0275"/>
    <parent link="iai_fridge_door_shelf2_bottom"/>
    <child link="iai_fridge_door_shelf2_right_side"/>
  </joint>
  <joint name="iai_fridge_door_shelf2_front_to_bottom" type="fixed">
    <origin xyz="-0.05 0 0.0275"/>
    <parent link="iai_fridge_door_shelf2_bottom"/>
    <child link="iai_fridge_door_shelf2_front_side"/>
  </joint>
  <joint name="iai_fridge_door_shelf3_to_door" type="fixed">
    <origin xyz="-0.07 0 0.23"/>
    <child link="iai_fridge_door_shelf3_bottom"/>
    <parent link="iai_fridge_door_block"/>
  </joint>
  <link name="iai_fridge_door_shelf3_bottom">
    <visual>
      <geometry>
        <box size="0.1 0.35 0.01"/>
      </geometry>
    </visual>
    <collision>
      <geometry>
        <box size="0.1 0.35 0.01"/>
      </geometry>
    </collision>
  </link>
  <link name="iai_fridge_door_shelf3_left_side">
    <visual>
      <geometry>
        <box size="0.115 0.06 0.065"/>
      </geometry>
    </visual>
    <collision>
      <geometry>
        <box size="0.115 0.06 0.065"/>
      </geometry>
    </collision>
  </link>
  <link name="iai_fridge_door_shelf3_right_side">
    <visual>
      <geometry>
        <box size="0.115 0.06 0.065"/>
      </geometry>
    </visual>
    <collision>
      <geometry>
        <box size="0.115 0.06 0.065"/>
      </geometry>
    </collision>
  </link>
  <link name="iai_fridge_door_shelf3_front_side">
    <visual>
      <geometry>
        <box size="0.02 0.35 0.065"/>
      </geometry>
    </visual>
    <collision>
      <geometry>
        <box size="0.01 0.35 0.065"/>
      </geometry>
    </collision>
  </link>
  <joint name="iai_fridge_door_shelf3_left_to_bottom" type="fixed">
    <origin xyz="-0.0025 -0.2 0.0275"/>
    <parent link="iai_fridge_door_shelf3_bottom"/>
    <child link="iai_fridge_door_shelf3_left_side"/>
  </joint>
  <joint name="iai_fridge_door_shelf3_right_to_bottom" type="fixed">
    <origin xyz="-0.0025 0.2 0.0275"/>
    <parent link="iai_fridge_door_shelf3_bottom"/>
    <child link="iai_fridge_door_shelf3_right_side"/>
  </joint>
  <joint name="iai_fridge_door_shelf3_front_to_bottom" type="fixed">
    <origin xyz="-0.05 0 0.0275"/>
    <parent link="iai_fridge_door_shelf3_bottom"/>
    <child link="iai_fridge_door_shelf3_front_side"/>
  </joint>
  <link name="table_area_main">
    <sphere_inertia mass="0" radius="0"/>
    <visual>
      <origin rpy="0 0 0" xyz="0 0 0.3619"/>
      <geometry>
        <mesh filename="package://iai_kitchen/meshes/misc/big_table_1.stl"/>
      </geometry>
    </visual>
    <collision>
      <origin rpy="0 0 0" xyz="0 0 0.3619"/>
      <geometry>
        <mesh filename="package://iai_kitchen/meshes/misc/big_table_1.obj"/>
      </geometry>
    </collision>
  </link>
  <joint name="table_area_main_joint" type="fixed">
    <origin rpy="0 0 3.141592653589793" xyz="-2.4 -1.5 0"/>
    <parent link="room_link"/>
    <child link="table_area_main"/>
  </joint>
  <!-- LINKS -->
  <link name="kitchen_wall_1">
    <sphere_inertia mass="0" radius="0"/>
    <visual>
      <origin rpy="0 0 0" xyz="0 0 1.25"/>
      <geometry>
        <box size="1.1376 0.15 2.5"/>
      </geometry>
    </visual>
    <collision>
      <origin rpy="0 0 0" xyz="0 0 1.25"/>
      <geometry>
        <box size="1.1376 0.15 2.5"/>
      </geometry>
    </collision>
  </link>
  <link name="kitchen_wall_2">
    <sphere_inertia mass="0" radius="0"/>
    <visual>
      <origin rpy="0 0 0" xyz="0 0 1.25"/>
      <geometry>
        <box size="5.182 0.15 2.5"/>
      </geometry>
    </visual>
    <collision>
      <origin rpy="0 0 0" xyz="0 0 1.25"/>
      <geometry>
        <box size="5.182 0.15 2.5"/>
      </geometry>
    </collision>
  </link>
  <link name="kitchen_wall_3">
    <sphere_inertia mass="0" radius="0"/>
    <visual>
      <origin rpy="0 0 0" xyz="0 0 1.25"/>
      <geometry>
        <box size="5.901 0.15 2.5"/>
      </geometry>
    </visual>
    <collision>
      <origin rpy="0 0 0" xyz="0 0 1.25"/>
      <geometry>
        <box size="5.901 0.15 2.5"/>
      </geometry>
    </collision>
  </link>
  <link name="kitchen_wall_4">
    <sphere_inertia mass="0" radius="0"/>
    <visual>
      <origin rpy="0 0 0" xyz="0 0 0.35"/>
      <geometry>
        <box size="4.25 0.15 0.7"/>
      </geometry>
    </visual>
    <collision>
      <origin rpy="0 0 0" xyz="0 0 0.35"/>
      <geometry>
        <box size="4.25 0.15 0.7"/>
      </geometry>
    </collision>
  </link>
  <link name="kitchen_wall_5">
    <sphere_inertia mass="0" radius="0"/>
    <visual>
      <origin rpy="0 0 0" xyz="0 0 0.35"/>
      <geometry>
        <box size="2.27328 0.15 0.7"/>
      </geometry>
    </visual>
    <collision>
      <origin rpy="0 0 0" xyz="0 0 0.35"/>
      <geometry>
        <box size="2.27328 0.15 0.7"/>
      </geometry>
    </collision>
  </link>
  <link name="kitchen_wall_6">
    <sphere_inertia mass="0" radius="0"/>
    <visual>
      <origin rpy="0 0 0" xyz="0 0 0.35"/>
      <geometry>
        <box size="1 0.15 0.7"/>
      </geometry>
    </visual>
    <collision>
      <origin rpy="0 0 0" xyz="0 0 0.35"/>
      <geometry>
        <box size="1 0.15 0.7"/>
      </geometry>
    </collision>
  </link>
  <!-- JOINTS -->
  <link name="kitchen_walls"/>
  <joint name="walls_main_joint" type="fixed">
    <origin rpy="0.0 0.0 0.0" xyz="-0.96 0.65 0"/>
    <parent link="room_link"/>
    <child link="kitchen_walls"/>
  </joint>
  <joint name="wall_1_joint" type="fixed">
    <origin rpy="0 -0 3.14159" xyz="2.38151 -2.516 0"/>
    <parent link="kitchen_walls"/>
    <child link="kitchen_wall_1"/>
  </joint>
  <!--
    <joint name="wall_1_joint" type="fixed">
        <origin xyz="1 0.562175 0" rpy="0 0 0" />
      <parent link="kitchen_walls"/>
      <child link="kitchen_wall_1"/>
    </joint>
-->
  <joint name="wall_2_joint" type="fixed">
    <origin rpy="0 -0 1.5708" xyz="2.87551 0 0"/>
    <parent link="kitchen_walls"/>
    <child link="kitchen_wall_2"/>
  </joint>
  <joint name="wall_3_joint" type="fixed">
    <origin rpy="0 -0 3.14159" xyz="0 2.516 0"/>
    <parent link="kitchen_walls"/>
    <child link="kitchen_wall_3"/>
  </joint>
  <joint name="wall_4_joint" type="fixed">
    <origin rpy="0 0 -1.5708" xyz="-2.87549 0.466 0"/>
    <parent link="kitchen_walls"/>
    <child link="kitchen_wall_4"/>
  </joint>
  <joint name="wall_5_joint" type="fixed">
    <origin rpy="0 -0 0.000157" xyz="-1.81385 -1.70376 0"/>
    <parent link="kitchen_walls"/>
    <child link="kitchen_wall_5"/>
  </joint>
  <joint name="wall_6_joint" type="fixed">
    <origin rpy="0 0 -1.5708" xyz="-0.65 -2.12851 0"/>
    <parent link="kitchen_walls"/>
    <child link="kitchen_wall_6"/>
  </joint>
  <gazebo reference="kitchen_wall_6">
    <material>Gazebo/DarkGrey</material>
  </gazebo>
  <link name="iai_popcorn_table_footprint"/>
  <joint name="iai_popcorn_table_footprint_joint" type="fixed">
    <origin xyz="-0.05 -1.7 0"/>
    <parent link="room_link"/>
    <child link="iai_popcorn_table_footprint"/>
  </joint>
  <link name="iai_popcorn_table_front_left_leg">
    <visual>
      <geometry>
        <box size="0.06 0.06 0.69"/>
      </geometry>
    </visual>
    <collision>
      <geometry>
        <box size="0.06 0.06 0.69"/>
      </geometry>
    </collision>
  </link>
  <link name="iai_popcorn_table_front_right_leg">
    <visual>
      <geometry>
        <box size="0.06 0.06 0.69"/>
      </geometry>
    </visual>
    <collision>
      <geometry>
        <box size="0.06 0.06 0.69"/>
      </geometry>
    </collision>
  </link>
  <link name="iai_popcorn_table_back_left_leg">
    <visual>
      <geometry>
        <box size="0.06 0.06 0.69"/>
      </geometry>
    </visual>
    <collision>
      <geometry>
        <box size="0.06 0.06 0.69"/>
      </geometry>
    </collision>
  </link>
  <link name="iai_popcorn_table_back_right_leg">
    <visual>
      <geometry>
        <box size="0.06 0.06 0.69"/>
      </geometry>
    </visual>
    <collision>
      <geometry>
        <box size="0.06 0.06 0.69"/>
      </geometry>
    </collision>
  </link>
  <link name="iai_popcorn_table_left_panel">
    <visual>
      <geometry>
        <box size="0.01 0.54 0.69"/>
      </geometry>
    </visual>
    <collision>
      <geometry>
        <box size="0.01 0.54 0.69"/>
      </geometry>
    </collision>
  </link>
  <link name="iai_popcorn_table_right_panel">
    <visual>
      <geometry>
        <box size="0.01 0.54 0.69"/>
      </geometry>
    </visual>
    <collision>
      <geometry>
        <box size="0.01 0.54 0.69"/>
      </geometry>
    </collision>
  </link>
  <link name="iai_popcorn_table_front_panel">
    <visual>
      <geometry>
        <box size="1.56 0.01 0.69"/>
      </geometry>
    </visual>
    <collision>
      <geometry>
        <box size="1.56 0.01 0.69"/>
      </geometry>
    </collision>
  </link>
  <link name="iai_popcorn_table_surface">
    <visual>
      <geometry>
        <box size="1.75 0.64 0.025"/>
      </geometry>
    </visual>
    <collision>
      <geometry>
        <box size="1.75 0.64 0.025"/>
      </geometry>
    </collision>
  </link>
  <link name="iai_popcorn_table_stove">
    <visual>
      <geometry>
        <box size="0.59 0.52 0.01"/>
      </geometry>
    </visual>
    <collision>
      <geometry>
        <box size="0.59 0.52 0.01"/>
      </geometry>
    </collision>
  </link>
  <link name="iai_popcorn_table_left_wall">
    <visual>
      <geometry>
        <box size="0.02 0.54 0.69"/>
      </geometry>
    </visual>
    <collision>
      <geometry>
        <box size="0.02 0.54 0.69"/>
      </geometry>
    </collision>
  </link>
  <link name="iai_popcorn_table_right_wall">
    <visual>
      <geometry>
        <box size="0.02 0.54 0.69"/>
      </geometry>
    </visual>
    <collision>
      <geometry>
        <box size="0.02 0.54 0.69"/>
      </geometry>
    </collision>
  </link>
  <link name="iai_popcorn_table_right_grid">
    <visual>
      <geometry>
        <box size="0.5 0.5 0.015"/>
      </geometry>
    </visual>
    <collision>
      <geometry>
        <box size="0.5 0.5 0.015"/>
      </geometry>
    </collision>
  </link>
  <link name="iai_popcorn_table_left_grid">
    <visual>
      <geometry>
        <box size="0.5 0.5 0.015"/>
      </geometry>
    </visual>
    <collision>
      <geometry>
        <box size="0.5 0.5 0.015"/>
      </geometry>
    </collision>
  </link>
  <joint name="iai_popcorn_table_front_left_leg_joint" type="fixed">
    <origin xyz="-0.81 -0.27 0.345"/>
    <parent link="iai_popcorn_table_footprint"/>
    <child link="iai_popcorn_table_front_left_leg"/>
  </joint>
  <joint name="iai_popcorn_table_front_right_leg_joint" type="fixed">
    <origin xyz="0.81 -0.27 0.345"/>
    <parent link="iai_popcorn_table_footprint"/>
    <child link="iai_popcorn_table_front_right_leg"/>
  </joint>
  <joint name="iai_popcorn_table_back_left_leg_joint" type="fixed">
    <origin xyz="-0.81 0.27 0.345"/>
    <parent link="iai_popcorn_table_footprint"/>
    <child link="iai_popcorn_table_back_left_leg"/>
  </joint>
  <joint name="iai_popcorn_table_back_right_leg_joint" type="fixed">
    <origin xyz="0.81 0.27 0.345"/>
    <parent link="iai_popcorn_table_footprint"/>
    <child link="iai_popcorn_table_back_right_leg"/>
  </joint>
  <joint name="iai_popcorn_table_surface_joint" type="fixed">
    <origin xyz="0 0 0.7"/>
    <parent link="iai_popcorn_table_footprint"/>
    <child link="iai_popcorn_table_surface"/>
  </joint>
  <joint name="iai_popcorn_table_stove_joint" type="fixed">
    <origin xyz="0 0.04 0.71"/>
    <parent link="iai_popcorn_table_footprint"/>
    <child link="iai_popcorn_table_stove"/>
  </joint>
  <joint name="iai_popcorn_table_left_panel_joint" type="fixed">
    <origin xyz="-0.81 0 0.35"/>
    <parent link="iai_popcorn_table_footprint"/>
    <child link="iai_popcorn_table_left_panel"/>
  </joint>
  <joint name="iai_popcorn_table_right_panel_joint" type="fixed">
    <origin xyz="0.81 0 0.35"/>
    <parent link="iai_popcorn_table_footprint"/>
    <child link="iai_popcorn_table_right_panel"/>
  </joint>
  <joint name="iai_popcorn_table_front_panel_joint" type="fixed">
    <origin xyz="0 -0.27 0.35"/>
    <parent link="iai_popcorn_table_footprint"/>
    <child link="iai_popcorn_table_front_panel"/>
  </joint>
  <joint name="iai_popcorn_table_left_wall_joint" type="fixed">
    <origin xyz="-0.31 0 0.35"/>
    <parent link="iai_popcorn_table_footprint"/>
    <child link="iai_popcorn_table_left_wall"/>
  </joint>
  <joint name="iai_popcorn_table_right_wall_joint" type="fixed">
    <origin xyz="0.31 0 0.35"/>
    <parent link="iai_popcorn_table_footprint"/>
    <child link="iai_popcorn_table_right_wall"/>
  </joint>
  <joint name="iai_popcorn_table_right_grid_joint" type="fixed">
    <origin xyz="-0.55 0 0.18"/>
    <parent link="iai_popcorn_table_footprint"/>
    <child link="iai_popcorn_table_right_grid"/>
  </joint>
  <joint name="iai_popcorn_table_left_grid_joint" type="fixed">
    <origin xyz="0.55 0 0.18"/>
    <parent link="iai_popcorn_table_footprint"/>
    <child link="iai_popcorn_table_left_grid"/>
  </joint>
  <joint name="iai_popcorn_table_drawer_left_table_joint" type="prismatic">
    <parent link="iai_popcorn_table_footprint"/>
    <child link="iai_popcorn_table_drawer_left_main"/>
    <limit effort="1000.0" lower="0" upper="0.4" velocity="0.5"/>
    <axis xyz="1 0 0 "/>
    <origin rpy="0 0 1.5707963267948966" xyz="0.555 0 0.53"/>
  </joint>
  <link name="iai_popcorn_table_drawer_left_main">
    <visual>
      <geometry>
        <box size="0.52 0.42 0.01"/>
      </geometry>
    </visual>
    <collision>
      <geometry>
        <box size="0.52 0.42 0.01"/>
      </geometry>
    </collision>
  </link>
  <link name="iai_popcorn_table_drawer_left_right_side">
    <visual>
      <geometry>
        <box size="0.52 0.01  0.13"/>
      </geometry>
    </visual>
    <collision>
      <geometry>
        <box size="0.52 0.01 0.13"/>
      </geometry>
    </collision>
  </link>
  <link name="iai_popcorn_table_drawer_left_left_side">
    <visual>
      <geometry>
        <box size="0.52 0.01 0.13"/>
      </geometry>
    </visual>
    <collision>
      <geometry>
        <box size=" 0.52 0.01 0.13"/>
      </geometry>
    </collision>
  </link>
  <link name="iai_popcorn_table_drawer_left_back_side">
    <visual>
      <geometry>
        <box size="0.01 0.42  0.13"/>
      </geometry>
    </visual>
    <collision>
      <geometry>
        <box size="0.01 0.42 0.13"/>
      </geometry>
    </collision>
  </link>
  <link name="iai_popcorn_table_drawer_left_front_side">
    <visual>
      <geometry>
        <box size="0.01 0.46  0.13"/>
      </geometry>
    </visual>
    <collision>
      <geometry>
        <box size="0.01 0.46 0.15"/>
      </geometry>
    </collision>
  </link>
  <joint name="iai_popcorn_table_drawer_left_right_side_joint" type="fixed">
    <origin xyz="0 0.205 0.065"/>
    <parent link="iai_popcorn_table_drawer_left_main"/>
    <child link="iai_popcorn_table_drawer_left_right_side"/>
  </joint>
  <joint name="iai_popcorn_table_drawer_left_left_side_joint" type="fixed">
    <origin xyz="0 -0.205 0.065"/>
    <parent link="iai_popcorn_table_drawer_left_main"/>
    <child link="iai_popcorn_table_drawer_left_left_side"/>
  </joint>
  <joint name="iai_popcorn_table_drawer_left_back_side_joint" type="fixed">
    <origin xyz=" -0.255 0 0.065"/>
    <parent link="iai_popcorn_table_drawer_left_main"/>
    <child link="iai_popcorn_table_drawer_left_back_side"/>
  </joint>
  <joint name="iai_popcorn_table_drawer_left_front_side_joint" type="fixed">
    <origin xyz=" 0.255 0 0.075"/>
    <parent link="iai_popcorn_table_drawer_left_main"/>
    <child link="iai_popcorn_table_drawer_left_front_side"/>
  </joint>
  <link name="iai_popcorn_table_drawer_left_handle_left_part">
    <visual>
      <geometry>
        <box size="0.03 0.01 0.01"/>
      </geometry>
    </visual>
    <collision>
      <geometry>
        <box size="0.03 0.01  0.01"/>
      </geometry>
    </collision>
  </link>
  <link name="iai_popcorn_table_drawer_left_handle_right_part">
    <visual>
      <geometry>
        <box size="0.03 0.01 0.01"/>
      </geometry>
    </visual>
    <collision>
      <geometry>
        <box size="0.03 0.01 0.01"/>
      </geometry>
    </collision>
  </link>
  <link name="iai_popcorn_table_drawer_left_handle_middle_part">
    <visual>
      <geometry>
        <box size="0.01 0.3 0.01"/>
      </geometry>
    </visual>
    <collision>
      <geometry>
        <box size="0.01 0.3 0.01"/>
      </geometry>
    </collision>
  </link>
  <joint name="iai_popcorn_table_drawer_left_handle_left_middle_joint" type="fixed">
    <origin xyz="-0.01 -0.15  0"/>
    <parent link="iai_popcorn_table_drawer_left_handle_middle_part"/>
    <child link="iai_popcorn_table_drawer_left_handle_left_part"/>
  </joint>
  <joint name="iai_popcorn_table_drawer_left_handle_right_middle_joint" type="fixed">
    <origin xyz="-0.01 0.15  0"/>
    <parent link="iai_popcorn_table_drawer_left_handle_middle_part"/>
    <child link="iai_popcorn_table_drawer_left_handle_right_part"/>
  </joint>
  <joint name="iai_popcorn_table_drawer_left_handle_middle_drawer_joint" type="fixed">
    <origin xyz="0.03 0 0"/>
    <parent link="iai_popcorn_table_drawer_left_front_side"/>
    <child link="iai_popcorn_table_drawer_left_handle_middle_part"/>
  </joint>
  <joint name="iai_popcorn_table_drawer_right_table_joint" type="prismatic">
    <parent link="iai_popcorn_table_footprint"/>
    <child link="iai_popcorn_table_drawer_right_main"/>
    <limit effort="1000.0" lower="0" upper="0.4" velocity="0.5"/>
    <axis xyz="1 0 0 "/>
    <origin rpy="0 0 1.5707963267948966" xyz="-0.555 0 0.53"/>
  </joint>
  <link name="iai_popcorn_table_drawer_right_main">
    <visual>
      <geometry>
        <box size="0.52 0.42 0.01"/>
      </geometry>
    </visual>
    <collision>
      <geometry>
        <box size="0.52 0.42 0.01"/>
      </geometry>
    </collision>
  </link>
  <link name="iai_popcorn_table_drawer_right_right_side">
    <visual>
      <geometry>
        <box size="0.52 0.01  0.13"/>
      </geometry>
    </visual>
    <collision>
      <geometry>
        <box size="0.52 0.01 0.13"/>
      </geometry>
    </collision>
  </link>
  <link name="iai_popcorn_table_drawer_right_left_side">
    <visual>
      <geometry>
        <box size="0.52 0.01 0.13"/>
      </geometry>
    </visual>
    <collision>
      <geometry>
        <box size=" 0.52 0.01 0.13"/>
      </geometry>
    </collision>
  </link>
  <link name="iai_popcorn_table_drawer_right_back_side">
    <visual>
      <geometry>
        <box size="0.01 0.42  0.13"/>
      </geometry>
    </visual>
    <collision>
      <geometry>
        <box size="0.01 0.42 0.13"/>
      </geometry>
    </collision>
  </link>
  <link name="iai_popcorn_table_drawer_right_front_side">
    <visual>
      <geometry>
        <box size="0.01 0.46  0.13"/>
      </geometry>
    </visual>
    <collision>
      <geometry>
        <box size="0.01 0.46 0.15"/>
      </geometry>
    </collision>
  </link>
  <joint name="iai_popcorn_table_drawer_right_right_side_joint" type="fixed">
    <origin xyz="0 0.205 0.065"/>
    <parent link="iai_popcorn_table_drawer_right_main"/>
    <child link="iai_popcorn_table_drawer_right_right_side"/>
  </joint>
  <joint name="iai_popcorn_table_drawer_right_left_side_joint" type="fixed">
    <origin xyz="0 -0.205 0.065"/>
    <parent link="iai_popcorn_table_drawer_right_main"/>
    <child link="iai_popcorn_table_drawer_right_left_side"/>
  </joint>
  <joint name="iai_popcorn_table_drawer_right_back_side_joint" type="fixed">
    <origin xyz=" -0.255 0 0.065"/>
    <parent link="iai_popcorn_table_drawer_right_main"/>
    <child link="iai_popcorn_table_drawer_right_back_side"/>
  </joint>
  <joint name="iai_popcorn_table_drawer_right_front_side_joint" type="fixed">
    <origin xyz=" 0.255 0 0.075"/>
    <parent link="iai_popcorn_table_drawer_right_main"/>
    <child link="iai_popcorn_table_drawer_right_front_side"/>
  </joint>
  <link name="iai_popcorn_table_drawer_right_handle_left_part">
    <visual>
      <geometry>
        <box size="0.03 0.01 0.01"/>
      </geometry>
    </visual>
    <collision>
      <geometry>
        <box size="0.03 0.01  0.01"/>
      </geometry>
    </collision>
  </link>
  <link name="iai_popcorn_table_drawer_right_handle_right_part">
    <visual>
      <geometry>
        <box size="0.03 0.01 0.01"/>
      </geometry>
    </visual>
    <collision>
      <geometry>
        <box size="0.03 0.01 0.01"/>
      </geometry>
    </collision>
  </link>
  <link name="iai_popcorn_table_drawer_right_handle_middle_part">
    <visual>
      <geometry>
        <box size="0.01 0.3 0.01"/>
      </geometry>
    </visual>
    <collision>
      <geometry>
        <box size="0.01 0.3 0.01"/>
      </geometry>
    </collision>
  </link>
  <joint name="iai_popcorn_table_drawer_right_handle_left_middle_joint" type="fixed">
    <origin xyz="-0.01 -0.15  0"/>
    <parent link="iai_popcorn_table_drawer_right_handle_middle_part"/>
    <child link="iai_popcorn_table_drawer_right_handle_left_part"/>
  </joint>
  <joint name="iai_popcorn_table_drawer_right_handle_right_middle_joint" type="fixed">
    <origin xyz="-0.01 0.15  0"/>
    <parent link="iai_popcorn_table_drawer_right_handle_middle_part"/>
    <child link="iai_popcorn_table_drawer_right_handle_right_part"/>
  </joint>
  <joint name="iai_popcorn_table_drawer_right_handle_middle_drawer_joint" type="fixed">
    <origin xyz="0.03 0 0"/>
    <parent link="iai_popcorn_table_drawer_right_front_side"/>
    <child link="iai_popcorn_table_drawer_right_handle_middle_part"/>
  </joint>
  <link name="iai_popcorn_stove_knob_1">
    <sphere_inertia mass="0" radius="0"/>
    <visual>
      <origin rpy="0 4.71238898038469 1.5707963267948966" xyz="0 0 0"/>
      <geometry>
        <mesh filename="package://iai_kitchen/meshes/oven/Knob.obj"/>
      </geometry>
    </visual>
    <collision>
      <origin rpy="0 4.71238898038469 1.5707963267948966" xyz="0 0 0"/>
      <geometry>
        <mesh filename="package://iai_kitchen/meshes/oven/Knob.obj"/>
      </geometry>
    </collision>
  </link>
  <joint name="iai_popcorn_stove_knob_1_joint" type="revolute">
    <origin xyz="-0.235 0.22 0.01"/>
    <parent link="iai_popcorn_table_stove"/>
    <child link="iai_popcorn_stove_knob_1"/>
    <axis xyz="0 0 1"/>
    <limit effort="300" lower="-3.141592653589793" upper="0" velocity="10"/>
  </joint>
  <link name="iai_popcorn_stove_knob_2">
    <sphere_inertia mass="0" radius="0"/>
    <visual>
      <origin rpy="0 4.71238898038469 1.5707963267948966" xyz="0 0 0"/>
      <geometry>
        <mesh filename="package://iai_kitchen/meshes/oven/Knob.obj"/>
      </geometry>
    </visual>
    <collision>
      <origin rpy="0 4.71238898038469 1.5707963267948966" xyz="0 0 0"/>
      <geometry>
        <mesh filename="package://iai_kitchen/meshes/oven/Knob.obj"/>
      </geometry>
    </collision>
  </link>
  <joint name="iai_popcorn_stove_knob_2_joint" type="revolute">
    <origin xyz="-0.235 0.17 0.01"/>
    <parent link="iai_popcorn_table_stove"/>
    <child link="iai_popcorn_stove_knob_2"/>
    <axis xyz="0 0 1"/>
    <limit effort="300" lower="-3.141592653589793" upper="0" velocity="10"/>
  </joint>
  <link name="iai_popcorn_stove_knob_3">
    <sphere_inertia mass="0" radius="0"/>
    <visual>
      <origin rpy="0 4.71238898038469 1.5707963267948966" xyz="0 0 0"/>
      <geometry>
        <mesh filename="package://iai_kitchen/meshes/oven/Knob.obj"/>
      </geometry>
    </visual>
    <collision>
      <origin rpy="0 4.71238898038469 1.5707963267948966" xyz="0 0 0"/>
      <geometry>
        <mesh filename="package://iai_kitchen/meshes/oven/Knob.obj"/>
      </geometry>
    </collision>
  </link>
  <joint name="iai_popcorn_stove_knob_3_joint" type="revolute">
    <origin xyz="-0.235 0.12 0.01"/>
    <parent link="iai_popcorn_table_stove"/>
    <child link="iai_popcorn_stove_knob_3"/>
    <axis xyz="0 0 1"/>
    <limit effort="300" lower="-3.141592653589793" upper="0" velocity="10"/>
  </joint>
  <!-- Included above already
  <iai_sink_area name="sink_area" parent="room_link">
    <origin xyz="-5.29 -5.65 0" rpy="0 0 0" />
  </iai_sink_area>

  <iai_oven_area name="oven_area" parent="room_link">
    <origin xyz="-5.27 -6.85 0" rpy="0 0 0" />
  </iai_oven_area>


  <iai_kitchen_island name="kitchen_island" parent="room_link">
    <origin xyz="-2.1 -4.94 0" rpy="0 0 ${pi}" />
  </iai_kitchen_island>

  <iai_fridge_area name="fridge_area" parent="room_link">
    <origin xyz="-5.29 -3.59 0" rpy="0 0 0" />
  </iai_fridge_area>
  -->
  <gazebo>
    <static>false</static>
  </gazebo>
</robot>
